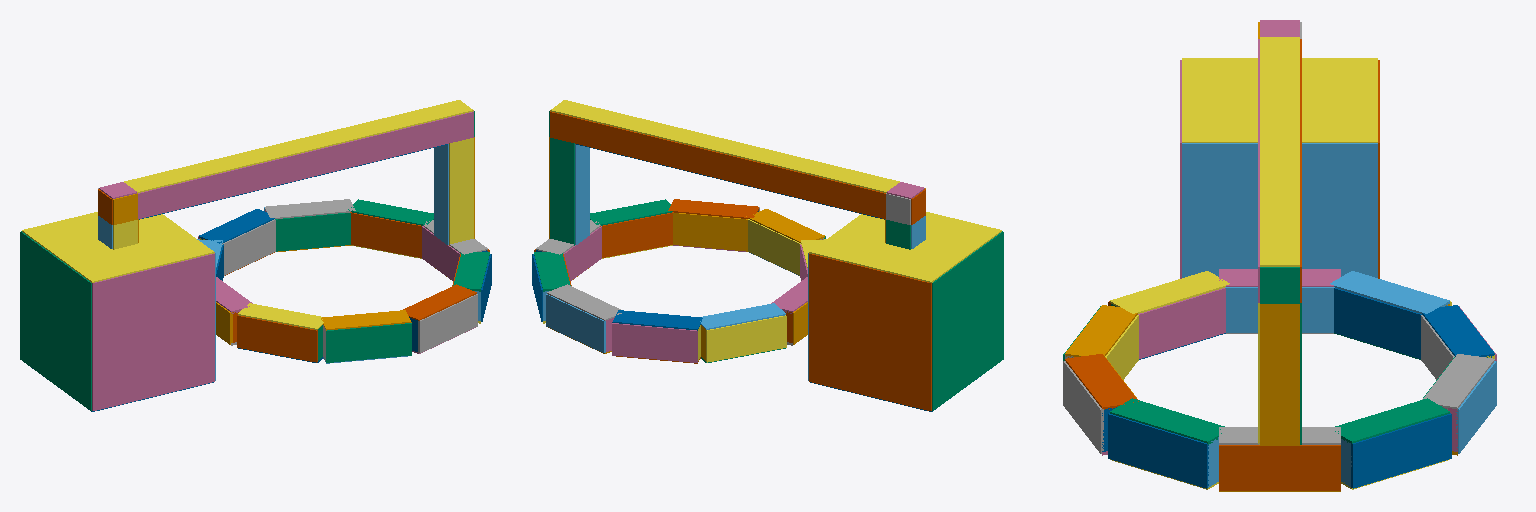
--- What the picture shows (computed from the rendered views, not written in the file) ---
3 views of the same robot in one strip: view 1: azimuth 30°, elevation 25°; view 2: azimuth 150°, elevation 25°; view 3: azimuth 270°, elevation 25° (orthographic).
Model robot with 100 links and 99 joints (2 continuous, 97 fixed), rooted at body, posed every joint at zero.
Visible links, largest first — view 1: body_sensor_0_right, body_sensor_0_stop, arm_sensor_0_right, body_sensor_0_top, arm_sensor_0_top, hand_part_7_sensor_0_left, hand_part_6_sensor_0_left, wrist_sensor_0_right, hand_part_2_sensor_0_right, hand_part_1_sensor_0_right, hand_part_8_sensor_0_left, hand_part_3_sensor_0_right (+13 smaller); view 2: body_sensor_0_left, body_sensor_0_stop, arm_sensor_0_left, body_sensor_0_top, arm_sensor_0_top, hand_part_3_sensor_0_left, hand_part_4_sensor_0_left, wrist_sensor_0_left, hand_part_8_sensor_0_right, hand_part_9_sensor_0_right, hand_part_2_sensor_0_left, hand_part_7_sensor_0_right (+12 smaller); view 3: body_sensor_0_start, body_sensor_0_top, arm_sensor_0_top, wrist_sensor_0_start, hand_part_0_sensor_0_start, hand_part_1_sensor_0_left, hand_part_9_sensor_0_left, hand_part_4_sensor_0_right, hand_part_6_sensor_0_right, hand_part_5_sensor_0_right, hand_part_4_sensor_0_top, hand_part_6_sensor_0_top (+16 smaller).
Boxes of the visible links, x1,y1,x2,y2 form: body_sensor_0_right: (92, 253, 214, 410); body_sensor_0_stop: (20, 231, 91, 410); arm_sensor_0_right: (138, 111, 473, 218); body_sensor_0_top: (22, 212, 214, 282); arm_sensor_0_top: (124, 100, 473, 192); hand_part_7_sensor_0_left: (326, 323, 411, 362); hand_part_6_sensor_0_left: (237, 315, 317, 362); wrist_sensor_0_right: (449, 138, 473, 245); hand_part_2_sensor_0_right: (275, 213, 350, 251); hand_part_1_sensor_0_right: (350, 212, 421, 257); hand_part_8_sensor_0_left: (418, 294, 477, 352); hand_part_3_sensor_0_right: (222, 219, 275, 275); body_sensor_0_left: (809, 253, 931, 410); body_sensor_0_stop: (932, 231, 1003, 410); arm_sensor_0_left: (550, 111, 885, 218); body_sensor_0_top: (809, 212, 1001, 282); arm_sensor_0_top: (550, 100, 899, 192); hand_part_3_sensor_0_left: (612, 323, 697, 362); hand_part_4_sensor_0_left: (706, 315, 786, 362); wrist_sensor_0_left: (550, 138, 574, 245); hand_part_8_sensor_0_right: (673, 213, 747, 251); hand_part_9_sensor_0_right: (600, 212, 673, 257); hand_part_2_sensor_0_left: (546, 294, 605, 352); hand_part_7_sensor_0_right: (748, 219, 801, 275); body_sensor_0_start: (1182, 143, 1377, 277); body_sensor_0_top: (1182, 58, 1377, 142); arm_sensor_0_top: (1260, 37, 1299, 266); wrist_sensor_0_start: (1260, 304, 1299, 445); hand_part_0_sensor_0_start: (1219, 445, 1340, 490); hand_part_1_sensor_0_left: (1351, 413, 1451, 488); hand_part_9_sensor_0_left: (1108, 413, 1208, 488); hand_part_4_sensor_0_right: (1334, 288, 1421, 358); hand_part_6_sensor_0_right: (1138, 288, 1225, 358); hand_part_5_sensor_0_right: (1225, 287, 1334, 332); hand_part_4_sensor_0_top: (1330, 271, 1449, 313); hand_part_6_sensor_0_top: (1110, 271, 1229, 313).
Bounding box of the posed robot: 3.37 × 2.21 × 1.42 m (x, y, z).
Geometry: primitives only (box / cylinder / sphere), no mesh files.

robot.urdf — robot:
<?xml version="1.0"?>
    <robot name="robot">


    <!-- body -->
    <link name="body">
        <inertial>
            <origin xyz="0 0 0" rpy="0 0 0"/>
            <mass value="100"/>
            <inertia ixx=".1" ixy=".1" ixz=".1" iyy=".1" iyz=".1" izz=".1"/>
        </inertial>
        <visual>
            <origin xyz="0 0 0" rpy="0 0 0"/>
            <geometry>
                <box size="1 1 1"/>
            </geometry>
        </visual>
        <collision>
            <origin xyz="0 0 0" rpy="0 0 0"/>
            <geometry>
                <box size="1 1 1"/>
            </geometry>
        </collision>
    </link>


    <!-- body_sensor_0_start -->
    <link name="body_sensor_0_start">
        <inertial>
            <origin xyz="0 0 0" rpy="0 0 0"/>
            <mass value="0"/>
            <inertia ixx=".1" ixy=".1" ixz=".1" iyy=".1" iyz=".1" izz=".1"/>
        </inertial>
        <visual>
            <origin xyz="0 0 0" rpy="0 0 0"/>
            <geometry>
                <box size="0.02 1 1"/>
            </geometry>
        </visual>
        <collision>
            <origin xyz="0 0 0" rpy="0 0 0"/>
            <geometry>
                <box size="0.02 1 1"/>
            </geometry>
        </collision>
    </link>
    <!-- Joint: body, body_sensor_0_start -->
    <joint name="body_body_sensor_0_start_joint" type="fixed">
        <parent link="body"/>
        <child link="body_sensor_0_start"/>
        <origin xyz="0.5 0 0"
                rpy="0 0 0"/>
        <axis xyz="0 0 1"/>
        
    </joint>


    <!-- body_sensor_0_stop -->
    <link name="body_sensor_0_stop">
        <inertial>
            <origin xyz="0 0 0" rpy="0 0 0"/>
            <mass value="0"/>
            <inertia ixx=".1" ixy=".1" ixz=".1" iyy=".1" iyz=".1" izz=".1"/>
        </inertial>
        <visual>
            <origin xyz="0 0 0" rpy="0 0 0"/>
            <geometry>
                <box size="0.02 1 1"/>
            </geometry>
        </visual>
        <collision>
            <origin xyz="0 0 0" rpy="0 0 0"/>
            <geometry>
                <box size="0.02 1 1"/>
            </geometry>
        </collision>
    </link>
    <!-- Joint: body, body_sensor_0_stop -->
    <joint name="body_body_sensor_0_stop_joint" type="fixed">
        <parent link="body"/>
        <child link="body_sensor_0_stop"/>
        <origin xyz="-0.5 0 0"
                rpy="0 0 0"/>
        <axis xyz="0 0 1"/>
        
    </joint>


    <!-- body_sensor_0_top -->
    <link name="body_sensor_0_top">
        <inertial>
            <origin xyz="0 0 0" rpy="0 0 0"/>
            <mass value="0"/>
            <inertia ixx=".1" ixy=".1" ixz=".1" iyy=".1" iyz=".1" izz=".1"/>
        </inertial>
        <visual>
            <origin xyz="0 0 0" rpy="0 0 0"/>
            <geometry>
                <box size="1.0 1 0.02"/>
            </geometry>
        </visual>
        <collision>
            <origin xyz="0 0 0" rpy="0 0 0"/>
            <geometry>
                <box size="1.0 1 0.02"/>
            </geometry>
        </collision>
    </link>
    <!-- Joint: body, body_sensor_0_top -->
    <joint name="body_body_sensor_0_top_joint" type="fixed">
        <parent link="body"/>
        <child link="body_sensor_0_top"/>
        <origin xyz="0 0 0.5"
                rpy="0 0 0"/>
        <axis xyz="0 0 1"/>
        
    </joint>


    <!-- body_sensor_0_bottom -->
    <link name="body_sensor_0_bottom">
        <inertial>
            <origin xyz="0 0 0" rpy="0 0 0"/>
            <mass value="0"/>
            <inertia ixx=".1" ixy=".1" ixz=".1" iyy=".1" iyz=".1" izz=".1"/>
        </inertial>
        <visual>
            <origin xyz="0 0 0" rpy="0 0 0"/>
            <geometry>
                <box size="1.0 1 0.02"/>
            </geometry>
        </visual>
        <collision>
            <origin xyz="0 0 0" rpy="0 0 0"/>
            <geometry>
                <box size="1.0 1 0.02"/>
            </geometry>
        </collision>
    </link>
    <!-- Joint: body, body_sensor_0_bottom -->
    <joint name="body_body_sensor_0_bottom_joint" type="fixed">
        <parent link="body"/>
        <child link="body_sensor_0_bottom"/>
        <origin xyz="0 0 -0.5"
                rpy="0 0 0"/>
        <axis xyz="0 0 1"/>
        
    </joint>


    <!-- body_sensor_0_left -->
    <link name="body_sensor_0_left">
        <inertial>
            <origin xyz="0 0 0" rpy="0 0 0"/>
            <mass value="0"/>
            <inertia ixx=".1" ixy=".1" ixz=".1" iyy=".1" iyz=".1" izz=".1"/>
        </inertial>
        <visual>
            <origin xyz="0 0 0" rpy="0 0 0"/>
            <geometry>
                <box size="1.0 0.02 1"/>
            </geometry>
        </visual>
        <collision>
            <origin xyz="0 0 0" rpy="0 0 0"/>
            <geometry>
                <box size="1.0 0.02 1"/>
            </geometry>
        </collision>
    </link>
    <!-- Joint: body, body_sensor_0_left -->
    <joint name="body_body_sensor_0_left_joint" type="fixed">
        <parent link="body"/>
        <child link="body_sensor_0_left"/>
        <origin xyz="0 0.5 0"
                rpy="0 0 0"/>
        <axis xyz="0 0 1"/>
        
    </joint>


    <!-- body_sensor_0_right -->
    <link name="body_sensor_0_right">
        <inertial>
            <origin xyz="0 0 0" rpy="0 0 0"/>
            <mass value="0"/>
            <inertia ixx=".1" ixy=".1" ixz=".1" iyy=".1" iyz=".1" izz=".1"/>
        </inertial>
        <visual>
            <origin xyz="0 0 0" rpy="0 0 0"/>
            <geometry>
                <box size="1.0 0.02 1"/>
            </geometry>
        </visual>
        <collision>
            <origin xyz="0 0 0" rpy="0 0 0"/>
            <geometry>
                <box size="1.0 0.02 1"/>
            </geometry>
        </collision>
    </link>
    <!-- Joint: body, body_sensor_0_right -->
    <joint name="body_body_sensor_0_right_joint" type="fixed">
        <parent link="body"/>
        <child link="body_sensor_0_right"/>
        <origin xyz="0 -0.5 0"
                rpy="0 0 0"/>
        <axis xyz="0 0 1"/>
        
    </joint>


    <!-- joint_1 -->
    <link name="joint_1">
        <inertial>
            <origin xyz="0 0 0" rpy="0 0 0"/>
            <mass value="2"/>
            <inertia ixx=".1" ixy=".1" ixz=".1" iyy=".1" iyz=".1" izz=".1"/>
        </inertial>
        <visual>
            <origin xyz="0 0 0" rpy="0 0 0"/>
            <geometry>
                <box size="0.2 0.2 0.2"/>
            </geometry>
        </visual>
        <collision>
            <origin xyz="0 0 0" rpy="0 0 0"/>
            <geometry>
                <box size="0.2 0.2 0.2"/>
            </geometry>
        </collision>
    </link>


    <!-- joint_1_sensor_0_start -->
    <link name="joint_1_sensor_0_start">
        <inertial>
            <origin xyz="0 0 0" rpy="0 0 0"/>
            <mass value="0"/>
            <inertia ixx=".1" ixy=".1" ixz=".1" iyy=".1" iyz=".1" izz=".1"/>
        </inertial>
        <visual>
            <origin xyz="0 0 0" rpy="0 0 0"/>
            <geometry>
                <box size="0.02 0.2 0.2"/>
            </geometry>
        </visual>
        <collision>
            <origin xyz="0 0 0" rpy="0 0 0"/>
            <geometry>
                <box size="0.02 0.2 0.2"/>
            </geometry>
        </collision>
    </link>
    <!-- Joint: joint_1, joint_1_sensor_0_start -->
    <joint name="joint_1_joint_1_sensor_0_start_joint" type="fixed">
        <parent link="joint_1"/>
        <child link="joint_1_sensor_0_start"/>
        <origin xyz="0.1 0 0"
                rpy="0 0 0"/>
        <axis xyz="0 0 1"/>
        
    </joint>


    <!-- joint_1_sensor_0_stop -->
    <link name="joint_1_sensor_0_stop">
        <inertial>
            <origin xyz="0 0 0" rpy="0 0 0"/>
            <mass value="0"/>
            <inertia ixx=".1" ixy=".1" ixz=".1" iyy=".1" iyz=".1" izz=".1"/>
        </inertial>
        <visual>
            <origin xyz="0 0 0" rpy="0 0 0"/>
            <geometry>
                <box size="0.02 0.2 0.2"/>
            </geometry>
        </visual>
        <collision>
            <origin xyz="0 0 0" rpy="0 0 0"/>
            <geometry>
                <box size="0.02 0.2 0.2"/>
            </geometry>
        </collision>
    </link>
    <!-- Joint: joint_1, joint_1_sensor_0_stop -->
    <joint name="joint_1_joint_1_sensor_0_stop_joint" type="fixed">
        <parent link="joint_1"/>
        <child link="joint_1_sensor_0_stop"/>
        <origin xyz="-0.1 0 0"
                rpy="0 0 0"/>
        <axis xyz="0 0 1"/>
        
    </joint>


    <!-- joint_1_sensor_0_left -->
    <link name="joint_1_sensor_0_left">
        <inertial>
            <origin xyz="0 0 0" rpy="0 0 0"/>
            <mass value="0"/>
            <inertia ixx=".1" ixy=".1" ixz=".1" iyy=".1" iyz=".1" izz=".1"/>
        </inertial>
        <visual>
            <origin xyz="0 0 0" rpy="0 0 0"/>
            <geometry>
                <box size="0.2 0.02 0.2"/>
            </geometry>
        </visual>
        <collision>
            <origin xyz="0 0 0" rpy="0 0 0"/>
            <geometry>
                <box size="0.2 0.02 0.2"/>
            </geometry>
        </collision>
    </link>
    <!-- Joint: joint_1, joint_1_sensor_0_left -->
    <joint name="joint_1_joint_1_sensor_0_left_joint" type="fixed">
        <parent link="joint_1"/>
        <child link="joint_1_sensor_0_left"/>
        <origin xyz="0 0.1 0"
                rpy="0 0 0"/>
        <axis xyz="0 0 1"/>
        
    </joint>


    <!-- joint_1_sensor_0_right -->
    <link name="joint_1_sensor_0_right">
        <inertial>
            <origin xyz="0 0 0" rpy="0 0 0"/>
            <mass value="0"/>
            <inertia ixx=".1" ixy=".1" ixz=".1" iyy=".1" iyz=".1" izz=".1"/>
        </inertial>
        <visual>
            <origin xyz="0 0 0" rpy="0 0 0"/>
            <geometry>
                <box size="0.2 0.02 0.2"/>
            </geometry>
        </visual>
        <collision>
            <origin xyz="0 0 0" rpy="0 0 0"/>
            <geometry>
                <box size="0.2 0.02 0.2"/>
            </geometry>
        </collision>
    </link>
    <!-- Joint: joint_1, joint_1_sensor_0_right -->
    <joint name="joint_1_joint_1_sensor_0_right_joint" type="fixed">
        <parent link="joint_1"/>
        <child link="joint_1_sensor_0_right"/>
        <origin xyz="0 -0.1 0"
                rpy="0 0 0"/>
        <axis xyz="0 0 1"/>
        
    </joint>
    <!-- Joint: body, joint_1 -->
    <joint name="body_joint_1_joint" type="continuous">
        <parent link="body"/>
        <child link="joint_1"/>
        <origin xyz="0 0 0.6"
                rpy="0 0 0"/>
        <axis xyz="0 0 1"/>
        <limit lower="0" upper="0" effort="0" velocity="0"/>
    </joint>


    <!-- joint_2 -->
    <link name="joint_2">
        <inertial>
            <origin xyz="0 0 0" rpy="0 0 0"/>
            <mass value="2"/>
            <inertia ixx=".1" ixy=".1" ixz=".1" iyy=".1" iyz=".1" izz=".1"/>
        </inertial>
        <visual>
            <origin xyz="0 0 0" rpy="0 0 0"/>
            <geometry>
                <box size="0.2 0.2 0.2"/>
            </geometry>
        </visual>
        <collision>
            <origin xyz="0 0 0" rpy="0 0 0"/>
            <geometry>
                <box size="0.2 0.2 0.2"/>
            </geometry>
        </collision>
    </link>


    <!-- joint_2_sensor_0_stop -->
    <link name="joint_2_sensor_0_stop">
        <inertial>
            <origin xyz="0 0 0" rpy="0 0 0"/>
            <mass value="0"/>
            <inertia ixx=".1" ixy=".1" ixz=".1" iyy=".1" iyz=".1" izz=".1"/>
        </inertial>
        <visual>
            <origin xyz="0 0 0" rpy="0 0 0"/>
            <geometry>
                <box size="0.02 0.2 0.2"/>
            </geometry>
        </visual>
        <collision>
            <origin xyz="0 0 0" rpy="0 0 0"/>
            <geometry>
                <box size="0.02 0.2 0.2"/>
            </geometry>
        </collision>
    </link>
    <!-- Joint: joint_2, joint_2_sensor_0_stop -->
    <joint name="joint_2_joint_2_sensor_0_stop_joint" type="fixed">
        <parent link="joint_2"/>
        <child link="joint_2_sensor_0_stop"/>
        <origin xyz="-0.1 0 0"
                rpy="0 0 0"/>
        <axis xyz="0 1 0"/>
        
    </joint>


    <!-- joint_2_sensor_0_top -->
    <link name="joint_2_sensor_0_top">
        <inertial>
            <origin xyz="0 0 0" rpy="0 0 0"/>
            <mass value="0"/>
            <inertia ixx=".1" ixy=".1" ixz=".1" iyy=".1" iyz=".1" izz=".1"/>
        </inertial>
        <visual>
            <origin xyz="0 0 0" rpy="0 0 0"/>
            <geometry>
                <box size="0.2 0.2 0.02"/>
            </geometry>
        </visual>
        <collision>
            <origin xyz="0 0 0" rpy="0 0 0"/>
            <geometry>
                <box size="0.2 0.2 0.02"/>
            </geometry>
        </collision>
    </link>
    <!-- Joint: joint_2, joint_2_sensor_0_top -->
    <joint name="joint_2_joint_2_sensor_0_top_joint" type="fixed">
        <parent link="joint_2"/>
        <child link="joint_2_sensor_0_top"/>
        <origin xyz="0 0 0.1"
                rpy="0 0 0"/>
        <axis xyz="0 1 0"/>
        
    </joint>


    <!-- joint_2_sensor_0_left -->
    <link name="joint_2_sensor_0_left">
        <inertial>
            <origin xyz="0 0 0" rpy="0 0 0"/>
            <mass value="0"/>
            <inertia ixx=".1" ixy=".1" ixz=".1" iyy=".1" iyz=".1" izz=".1"/>
        </inertial>
        <visual>
            <origin xyz="0 0 0" rpy="0 0 0"/>
            <geometry>
                <box size="0.2 0.02 0.2"/>
            </geometry>
        </visual>
        <collision>
            <origin xyz="0 0 0" rpy="0 0 0"/>
            <geometry>
                <box size="0.2 0.02 0.2"/>
            </geometry>
        </collision>
    </link>
    <!-- Joint: joint_2, joint_2_sensor_0_left -->
    <joint name="joint_2_joint_2_sensor_0_left_joint" type="fixed">
        <parent link="joint_2"/>
        <child link="joint_2_sensor_0_left"/>
        <origin xyz="0 0.1 0"
                rpy="0 0 0"/>
        <axis xyz="0 1 0"/>
        
    </joint>


    <!-- joint_2_sensor_0_right -->
    <link name="joint_2_sensor_0_right">
        <inertial>
            <origin xyz="0 0 0" rpy="0 0 0"/>
            <mass value="0"/>
            <inertia ixx=".1" ixy=".1" ixz=".1" iyy=".1" iyz=".1" izz=".1"/>
        </inertial>
        <visual>
            <origin xyz="0 0 0" rpy="0 0 0"/>
            <geometry>
                <box size="0.2 0.02 0.2"/>
            </geometry>
        </visual>
        <collision>
            <origin xyz="0 0 0" rpy="0 0 0"/>
            <geometry>
                <box size="0.2 0.02 0.2"/>
            </geometry>
        </collision>
    </link>
    <!-- Joint: joint_2, joint_2_sensor_0_right -->
    <joint name="joint_2_joint_2_sensor_0_right_joint" type="fixed">
        <parent link="joint_2"/>
        <child link="joint_2_sensor_0_right"/>
        <origin xyz="0 -0.1 0"
                rpy="0 0 0"/>
        <axis xyz="0 1 0"/>
        
    </joint>
    <!-- Joint: joint_1, joint_2 -->
    <joint name="joint_1_joint_2_joint" type="continuous">
        <parent link="joint_1"/>
        <child link="joint_2"/>
        <origin xyz="0 0 0.2"
                rpy="0 0 0"/>
        <axis xyz="0 1 0"/>
        <limit lower="0" upper="0" effort="0" velocity="0"/>
    </joint>


    <!-- arm -->
    <link name="arm">
        <inertial>
            <origin xyz="0 0 0" rpy="0 0 0"/>
            <mass value="2"/>
            <inertia ixx=".1" ixy=".1" ixz=".1" iyy=".1" iyz=".1" izz=".1"/>
        </inertial>
        <visual>
            <origin xyz="0 0 0" rpy="0 0 0"/>
            <geometry>
                <box size="2.75 0.2 0.2"/>
            </geometry>
        </visual>
        <collision>
            <origin xyz="0 0 0" rpy="0 0 0"/>
            <geometry>
                <box size="2.75 0.2 0.2"/>
            </geometry>
        </collision>
    </link>


    <!-- arm_sensor_0_start -->
    <link name="arm_sensor_0_start">
        <inertial>
            <origin xyz="0 0 0" rpy="0 0 0"/>
            <mass value="0"/>
            <inertia ixx=".1" ixy=".1" ixz=".1" iyy=".1" iyz=".1" izz=".1"/>
        </inertial>
        <visual>
            <origin xyz="0 0 0" rpy="0 0 0"/>
            <geometry>
                <box size="0.02 0.2 0.2"/>
            </geometry>
        </visual>
        <collision>
            <origin xyz="0 0 0" rpy="0 0 0"/>
            <geometry>
                <box size="0.02 0.2 0.2"/>
            </geometry>
        </collision>
    </link>
    <!-- Joint: arm, arm_sensor_0_start -->
    <joint name="arm_arm_sensor_0_start_joint" type="fixed">
        <parent link="arm"/>
        <child link="arm_sensor_0_start"/>
        <origin xyz="1.375 0 0"
                rpy="0 0 0"/>
        <axis xyz="0 1 0"/>
        
    </joint>


    <!-- arm_sensor_0_top -->
    <link name="arm_sensor_0_top">
        <inertial>
            <origin xyz="0 0 0" rpy="0 0 0"/>
            <mass value="0"/>
            <inertia ixx=".1" ixy=".1" ixz=".1" iyy=".1" iyz=".1" izz=".1"/>
        </inertial>
        <visual>
            <origin xyz="0 0 0" rpy="0 0 0"/>
            <geometry>
                <box size="2.75 0.2 0.02"/>
            </geometry>
        </visual>
        <collision>
            <origin xyz="0 0 0" rpy="0 0 0"/>
            <geometry>
                <box size="2.75 0.2 0.02"/>
            </geometry>
        </collision>
    </link>
    <!-- Joint: arm, arm_sensor_0_top -->
    <joint name="arm_arm_sensor_0_top_joint" type="fixed">
        <parent link="arm"/>
        <child link="arm_sensor_0_top"/>
        <origin xyz="0 0 0.1"
                rpy="0 0 0"/>
        <axis xyz="0 1 0"/>
        
    </joint>


    <!-- arm_sensor_0_bottom -->
    <link name="arm_sensor_0_bottom">
        <inertial>
            <origin xyz="0 0 0" rpy="0 0 0"/>
            <mass value="0"/>
            <inertia ixx=".1" ixy=".1" ixz=".1" iyy=".1" iyz=".1" izz=".1"/>
        </inertial>
        <visual>
            <origin xyz="0 0 0" rpy="0 0 0"/>
            <geometry>
                <box size="2.75 0.2 0.02"/>
            </geometry>
        </visual>
        <collision>
            <origin xyz="0 0 0" rpy="0 0 0"/>
            <geometry>
                <box size="2.75 0.2 0.02"/>
            </geometry>
        </collision>
    </link>
    <!-- Joint: arm, arm_sensor_0_bottom -->
    <joint name="arm_arm_sensor_0_bottom_joint" type="fixed">
        <parent link="arm"/>
        <child link="arm_sensor_0_bottom"/>
        <origin xyz="0 0 -0.1"
                rpy="0 0 0"/>
        <axis xyz="0 1 0"/>
        
    </joint>


    <!-- arm_sensor_0_left -->
    <link name="arm_sensor_0_left">
        <inertial>
            <origin xyz="0 0 0" rpy="0 0 0"/>
            <mass value="0"/>
            <inertia ixx=".1" ixy=".1" ixz=".1" iyy=".1" iyz=".1" izz=".1"/>
        </inertial>
        <visual>
            <origin xyz="0 0 0" rpy="0 0 0"/>
            <geometry>
                <box size="2.75 0.02 0.2"/>
            </geometry>
        </visual>
        <collision>
            <origin xyz="0 0 0" rpy="0 0 0"/>
            <geometry>
                <box size="2.75 0.02 0.2"/>
            </geometry>
        </collision>
    </link>
    <!-- Joint: arm, arm_sensor_0_left -->
    <joint name="arm_arm_sensor_0_left_joint" type="fixed">
        <parent link="arm"/>
        <child link="arm_sensor_0_left"/>
        <origin xyz="0 0.1 0"
                rpy="0 0 0"/>
        <axis xyz="0 1 0"/>
        
    </joint>


    <!-- arm_sensor_0_right -->
    <link name="arm_sensor_0_right">
        <inertial>
            <origin xyz="0 0 0" rpy="0 0 0"/>
            <mass value="0"/>
            <inertia ixx=".1" ixy=".1" ixz=".1" iyy=".1" iyz=".1" izz=".1"/>
        </inertial>
        <visual>
            <origin xyz="0 0 0" rpy="0 0 0"/>
            <geometry>
                <box size="2.75 0.02 0.2"/>
            </geometry>
        </visual>
        <collision>
            <origin xyz="0 0 0" rpy="0 0 0"/>
            <geometry>
                <box size="2.75 0.02 0.2"/>
            </geometry>
        </collision>
    </link>
    <!-- Joint: arm, arm_sensor_0_right -->
    <joint name="arm_arm_sensor_0_right_joint" type="fixed">
        <parent link="arm"/>
        <child link="arm_sensor_0_right"/>
        <origin xyz="0 -0.1 0"
                rpy="0 0 0"/>
        <axis xyz="0 1 0"/>
        
    </joint>
    <!-- Joint: joint_2, arm -->
    <joint name="joint_2_arm_joint" type="fixed">
        <parent link="joint_2"/>
        <child link="arm"/>
        <origin xyz="1.475 0 0"
                rpy="0 0 0"/>
        <axis xyz="0 1 0"/>
        
    </joint>


    <!-- wrist -->
    <link name="wrist">
        <inertial>
            <origin xyz="0 0 0" rpy="0 0 0"/>
            <mass value="2"/>
            <inertia ixx=".1" ixy=".1" ixz=".1" iyy=".1" iyz=".1" izz=".1"/>
        </inertial>
        <visual>
            <origin xyz="0 0 0" rpy="0 0 0"/>
            <geometry>
                <box size="0.2 0.2 0.8"/>
            </geometry>
        </visual>
        <collision>
            <origin xyz="0 0 0" rpy="0 0 0"/>
            <geometry>
                <box size="0.2 0.2 0.8"/>
            </geometry>
        </collision>
    </link>


    <!-- wrist_sensor_0_start -->
    <link name="wrist_sensor_0_start">
        <inertial>
            <origin xyz="0 0 0" rpy="0 0 0"/>
            <mass value="0"/>
            <inertia ixx=".1" ixy=".1" ixz=".1" iyy=".1" iyz=".1" izz=".1"/>
        </inertial>
        <visual>
            <origin xyz="0 0 0" rpy="0 0 0"/>
            <geometry>
                <box size="0.02 0.2 0.8"/>
            </geometry>
        </visual>
        <collision>
            <origin xyz="0 0 0" rpy="0 0 0"/>
            <geometry>
                <box size="0.02 0.2 0.8"/>
            </geometry>
        </collision>
    </link>
    <!-- Joint: wrist, wrist_sensor_0_start -->
    <joint name="wrist_wrist_sensor_0_start_joint" type="fixed">
        <parent link="wrist"/>
        <child link="wrist_sensor_0_start"/>
        <origin xyz="0.1 0 0"
                rpy="0 0 0"/>
        <axis xyz="0 1 0"/>
        
    </joint>


    <!-- wrist_sensor_0_stop -->
    <link name="wrist_sensor_0_stop">
        <inertial>
            <origin xyz="0 0 0" rpy="0 0 0"/>
            <mass value="0"/>
            <inertia ixx=".1" ixy=".1" ixz=".1" iyy=".1" iyz=".1" izz=".1"/>
        </inertial>
        <visual>
            <origin xyz="0 0 0" rpy="0 0 0"/>
            <geometry>
                <box size="0.02 0.2 0.8"/>
            </geometry>
        </visual>
        <collision>
            <origin xyz="0 0 0" rpy="0 0 0"/>
            <geometry>
                <box size="0.02 0.2 0.8"/>
            </geometry>
        </collision>
    </link>
    <!-- Joint: wrist, wrist_sensor_0_stop -->
    <joint name="wrist_wrist_sensor_0_stop_joint" type="fixed">
        <parent link="wrist"/>
        <child link="wrist_sensor_0_stop"/>
        <origin xyz="-0.1 0 0"
                rpy="0 0 0"/>
        <axis xyz="0 1 0"/>
        
    </joint>


    <!-- wrist_sensor_0_left -->
    <link name="wrist_sensor_0_left">
        <inertial>
            <origin xyz="0 0 0" rpy="0 0 0"/>
            <mass value="0"/>
            <inertia ixx=".1" ixy=".1" ixz=".1" iyy=".1" iyz=".1" izz=".1"/>
        </inertial>
        <visual>
            <origin xyz="0 0 0" rpy="0 0 0"/>
            <geometry>
                <box size="0.2 0.02 0.8"/>
            </geometry>
        </visual>
        <collision>
            <origin xyz="0 0 0" rpy="0 0 0"/>
            <geometry>
                <box size="0.2 0.02 0.8"/>
            </geometry>
        </collision>
    </link>
    <!-- Joint: wrist, wrist_sensor_0_left -->
    <joint name="wrist_wrist_sensor_0_left_joint" type="fixed">
        <parent link="wrist"/>
        <child link="wrist_sensor_0_left"/>
        <origin xyz="0 0.1 0"
                rpy="0 0 0"/>
        <axis xyz="0 1 0"/>
        
    </joint>


    <!-- wrist_sensor_0_right -->
    <link name="wrist_sensor_0_right">
        <inertial>
            <origin xyz="0 0 0" rpy="0 0 0"/>
            <mass value="0"/>
            <inertia ixx=".1" ixy=".1" ixz=".1" iyy=".1" iyz=".1" izz=".1"/>
        </inertial>
        <visual>
            <origin xyz="0 0 0" rpy="0 0 0"/>
            <geometry>
                <box size="0.2 0.02 0.8"/>
            </geometry>
        </visual>
        <collision>
            <origin xyz="0 0 0" rpy="0 0 0"/>
            <geometry>
                <box size="0.2 0.02 0.8"/>
            </geometry>
        </collision>
    </link>
    <!-- Joint: wrist, wrist_sensor_0_right -->
    <joint name="wrist_wrist_sensor_0_right_joint" type="fixed">
        <parent link="wrist"/>
        <child link="wrist_sensor_0_right"/>
        <origin xyz="0 -0.1 0"
                rpy="0 0 0"/>
        <axis xyz="0 1 0"/>
        
    </joint>
    <!-- Joint: arm, wrist -->
    <joint name="arm_wrist_joint" type="fixed">
        <parent link="arm"/>
        <child link="wrist"/>
        <origin xyz="1.275 0 -0.5"
                rpy="0 0 0"/>
        <axis xyz="0 1 0"/>
        
    </joint>


    <!-- hand_part_0 -->
    <link name="hand_part_0">
        <inertial>
            <origin xyz="0 0 0" rpy="0 0 0"/>
            <mass value="2"/>
            <inertia ixx=".1" ixy=".1" ixz=".1" iyy=".1" iyz=".1" izz=".1"/>
        </inertial>
        <visual>
            <origin xyz="0 0 0" rpy="0 0 0"/>
            <geometry>
                <box size="0.2 0.6180339887498948 0.25"/>
            </geometry>
        </visual>
        <collision>
            <origin xyz="0 0 0" rpy="0 0 0"/>
            <geometry>
                <box size="0.2 0.6180339887498948 0.25"/>
            </geometry>
        </collision>
    </link>


    <!-- hand_part_0_sensor_0_start -->
    <link name="hand_part_0_sensor_0_start">
        <inertial>
            <origin xyz="0 0 0" rpy="0 0 0"/>
            <mass value="0"/>
            <inertia ixx=".1" ixy=".1" ixz=".1" iyy=".1" iyz=".1" izz=".1"/>
        </inertial>
        <visual>
            <origin xyz="0 0 0" rpy="0 0 0"/>
            <geometry>
                <box size="0.02 0.6180339887498948 0.25"/>
            </geometry>
        </visual>
        <collision>
            <origin xyz="0 0 0" rpy="0 0 0"/>
            <geometry>
                <box size="0.02 0.6180339887498948 0.25"/>
            </geometry>
        </collision>
    </link>
    <!-- Joint: hand_part_0, hand_part_0_sensor_0_start -->
    <joint name="hand_part_0_hand_part_0_sensor_0_start_joint" type="fixed">
        <parent link="hand_part_0"/>
        <child link="hand_part_0_sensor_0_start"/>
        <origin xyz="0.1 0 0"
                rpy="0 0 0"/>
        <axis xyz="0 1 0"/>
        
    </joint>


    <!-- hand_part_0_sensor_0_stop -->
    <link name="hand_part_0_sensor_0_stop">
        <inertial>
            <origin xyz="0 0 0" rpy="0 0 0"/>
            <mass value="0"/>
            <inertia ixx=".1" ixy=".1" ixz=".1" iyy=".1" iyz=".1" izz=".1"/>
        </inertial>
        <visual>
            <origin xyz="0 0 0" rpy="0 0 0"/>
            <geometry>
                <box size="0.02 0.6180339887498948 0.25"/>
            </geometry>
        </visual>
        <collision>
            <origin xyz="0 0 0" rpy="0 0 0"/>
            <geometry>
                <box size="0.02 0.6180339887498948 0.25"/>
            </geometry>
        </collision>
    </link>
    <!-- Joint: hand_part_0, hand_part_0_sensor_0_stop -->
    <joint name="hand_part_0_hand_part_0_sensor_0_stop_joint" type="fixed">
        <parent link="hand_part_0"/>
        <child link="hand_part_0_sensor_0_stop"/>
        <origin xyz="-0.1 0 0"
                rpy="0 0 0"/>
        <axis xyz="0 1 0"/>
        
    </joint>


    <!-- hand_part_0_sensor_0_top -->
    <link name="hand_part_0_sensor_0_top">
        <inertial>
            <origin xyz="0 0 0" rpy="0 0 0"/>
            <mass value="0"/>
            <inertia ixx=".1" ixy=".1" ixz=".1" iyy=".1" iyz=".1" izz=".1"/>
        </inertial>
        <visual>
            <origin xyz="0 0 0" rpy="0 0 0"/>
            <geometry>
                <box size="0.2 0.6180339887498948 0.02"/>
            </geometry>
        </visual>
        <collision>
            <origin xyz="0 0 0" rpy="0 0 0"/>
            <geometry>
                <box size="0.2 0.6180339887498948 0.02"/>
            </geometry>
        </collision>
    </link>
    <!-- Joint: hand_part_0, hand_part_0_sensor_0_top -->
    <joint name="hand_part_0_hand_part_0_sensor_0_top_joint" type="fixed">
        <parent link="hand_part_0"/>
        <child link="hand_part_0_sensor_0_top"/>
        <origin xyz="0 0 0.125"
                rpy="0 0 0"/>
        <axis xyz="0 1 0"/>
        
    </joint>


    <!-- hand_part_0_sensor_0_bottom -->
    <link name="hand_part_0_sensor_0_bottom">
        <inertial>
            <origin xyz="0 0 0" rpy="0 0 0"/>
            <mass value="0"/>
            <inertia ixx=".1" ixy=".1" ixz=".1" iyy=".1" iyz=".1" izz=".1"/>
        </inertial>
        <visual>
            <origin xyz="0 0 0" rpy="0 0 0"/>
            <geometry>
                <box size="0.2 0.6180339887498948 0.02"/>
            </geometry>
        </visual>
        <collision>
            <origin xyz="0 0 0" rpy="0 0 0"/>
            <geometry>
                <box size="0.2 0.6180339887498948 0.02"/>
            </geometry>
        </collision>
    </link>
    <!-- Joint: hand_part_0, hand_part_0_sensor_0_bottom -->
    <joint name="hand_part_0_hand_part_0_sensor_0_bottom_joint" type="fixed">
        <parent link="hand_part_0"/>
        <child link="hand_part_0_sensor_0_bottom"/>
        <origin xyz="0 0 -0.125"
                rpy="0 0 0"/>
        <axis xyz="0 1 0"/>
        
    </joint>
    <!-- Joint: wrist, hand_part_0 -->
    <joint name="wrist_hand_part_0_joint" type="fixed">
        <parent link="wrist"/>
        <child link="hand_part_0"/>
        <origin xyz="0 0 -0.525"
                rpy="0 0 0"/>
        <axis xyz="0 1 0"/>
        
    </joint>


    <!-- hand_part_1 -->
    <link name="hand_part_1">
        <inertial>
            <origin xyz="0 0 0" rpy="0 0 0"/>
            <mass value="2"/>
            <inertia ixx=".1" ixy=".1" ixz=".1" iyy=".1" iyz=".1" izz=".1"/>
        </inertial>
        <visual>
            <origin xyz="0 0 0" rpy="0 0 0"/>
            <geometry>
                <box size="0.6180339887498948 0.2 0.25"/>
            </geometry>
        </visual>
        <collision>
            <origin xyz="0 0 0" rpy="0 0 0"/>
            <geometry>
                <box size="0.6180339887498948 0.2 0.25"/>
            </geometry>
        </collision>
    </link>


    <!-- hand_part_1_sensor_0_top -->
    <link name="hand_part_1_sensor_0_top">
        <inertial>
            <origin xyz="0 0 0" rpy="0 0 0"/>
            <mass value="0"/>
            <inertia ixx=".1" ixy=".1" ixz=".1" iyy=".1" iyz=".1" izz=".1"/>
        </inertial>
        <visual>
            <origin xyz="0 0 0" rpy="0 0 0"/>
            <geometry>
                <box size="0.6180339887498948 0.2 0.02"/>
            </geometry>
        </visual>
        <collision>
            <origin xyz="0 0 0" rpy="0 0 0"/>
            <geometry>
                <box size="0.6180339887498948 0.2 0.02"/>
            </geometry>
        </collision>
    </link>
    <!-- Joint: hand_part_1, hand_part_1_sensor_0_top -->
    <joint name="hand_part_1_hand_part_1_sensor_0_top_joint" type="fixed">
        <parent link="hand_part_1"/>
        <child link="hand_part_1_sensor_0_top"/>
        <origin xyz="0 0 0.125"
                rpy="0 0 0"/>
        <axis xyz="0 1 0"/>
        
    </joint>


    <!-- hand_part_1_sensor_0_bottom -->
    <link name="hand_part_1_sensor_0_bottom">
        <inertial>
            <origin xyz="0 0 0" rpy="0 0 0"/>
            <mass value="0"/>
            <inertia ixx=".1" ixy=".1" ixz=".1" iyy=".1" iyz=".1" izz=".1"/>
        </inertial>
        <visual>
            <origin xyz="0 0 0" rpy="0 0 0"/>
            <geometry>
                <box size="0.6180339887498948 0.2 0.02"/>
            </geometry>
        </visual>
        <collision>
            <origin xyz="0 0 0" rpy="0 0 0"/>
            <geometry>
                <box size="0.6180339887498948 0.2 0.02"/>
            </geometry>
        </collision>
    </link>
    <!-- Joint: hand_part_1, hand_part_1_sensor_0_bottom -->
    <joint name="hand_part_1_hand_part_1_sensor_0_bottom_joint" type="fixed">
        <parent link="hand_part_1"/>
        <child link="hand_part_1_sensor_0_bottom"/>
        <origin xyz="0 0 -0.125"
                rpy="0 0 0"/>
        <axis xyz="0 1 0"/>
        
    </joint>


    <!-- hand_part_1_sensor_0_left -->
    <link name="hand_part_1_sensor_0_left">
        <inertial>
            <origin xyz="0 0 0" rpy="0 0 0"/>
            <mass value="0"/>
            <inertia ixx=".1" ixy=".1" ixz=".1" iyy=".1" iyz=".1" izz=".1"/>
        </inertial>
        <visual>
            <origin xyz="0 0 0" rpy="0 0 0"/>
            <geometry>
                <box size="0.6180339887498948 0.02 0.25"/>
            </geometry>
        </visual>
        <collision>
            <origin xyz="0 0 0" rpy="0 0 0"/>
            <geometry>
                <box size="0.6180339887498948 0.02 0.25"/>
            </geometry>
        </collision>
    </link>
    <!-- Joint: hand_part_1, hand_part_1_sensor_0_left -->
    <joint name="hand_part_1_hand_part_1_sensor_0_left_joint" type="fixed">
        <parent link="hand_part_1"/>
        <child link="hand_part_1_sensor_0_left"/>
        <origin xyz="0 0.1 0"
                rpy="0 0 0"/>
        <axis xyz="0 1 0"/>
        
    </joint>


    <!-- hand_part_1_sensor_0_right -->
    <link name="hand_part_1_sensor_0_right">
        <inertial>
            <origin xyz="0 0 0" rpy="0 0 0"/>
            <mass value="0"/>
            <inertia ixx=".1" ixy=".1" ixz=".1" iyy=".1" iyz=".1" izz=".1"/>
        </inertial>
        <visual>
            <origin xyz="0 0 0" rpy="0 0 0"/>
            <geometry>
                <box size="0.6180339887498948 0.02 0.25"/>
            </geometry>
        </visual>
        <collision>
            <origin xyz="0 0 0" rpy="0 0 0"/>
            <geometry>
                <box size="0.6180339887498948 0.02 0.25"/>
            </geometry>
        </collision>
    </link>
    <!-- Joint: hand_part_1, hand_part_1_sensor_0_right -->
    <joint name="hand_part_1_hand_part_1_sensor_0_right_joint" type="fixed">
        <parent link="hand_part_1"/>
        <child link="hand_part_1_sensor_0_right"/>
        <origin xyz="0 -0.1 0"
                rpy="0 0 0"/>
        <axis xyz="0 1 0"/>
        
    </joint>
    <!-- Joint: hand_part_0, hand_part_1 -->
    <joint name="hand_part_0_hand_part_1_joint" type="fixed">
        <parent link="hand_part_0"/>
        <child link="hand_part_1"/>
        <origin xyz="-0.1816356320013402 0.5590169943749475 0"
                rpy="0 0 -0.9424777960769379"/>
        <axis xyz="0 1 0"/>
        
    </joint>


    <!-- hand_part_2 -->
    <link name="hand_part_2">
        <inertial>
            <origin xyz="0 0 0" rpy="0 0 0"/>
            <mass value="2"/>
            <inertia ixx=".1" ixy=".1" ixz=".1" iyy=".1" iyz=".1" izz=".1"/>
        </inertial>
        <visual>
            <origin xyz="0 0 0" rpy="0 0 0"/>
            <geometry>
                <box size="0.6180339887498948 0.2 0.25"/>
            </geometry>
        </visual>
        <collision>
            <origin xyz="0 0 0" rpy="0 0 0"/>
            <geometry>
                <box size="0.6180339887498948 0.2 0.25"/>
            </geometry>
        </collision>
    </link>


    <!-- hand_part_2_sensor_0_top -->
    <link name="hand_part_2_sensor_0_top">
        <inertial>
            <origin xyz="0 0 0" rpy="0 0 0"/>
            <mass value="0"/>
            <inertia ixx=".1" ixy=".1" ixz=".1" iyy=".1" iyz=".1" izz=".1"/>
        </inertial>
        <visual>
            <origin xyz="0 0 0" rpy="0 0 0"/>
            <geometry>
                <box size="0.6180339887498948 0.2 0.02"/>
            </geometry>
        </visual>
        <collision>
            <origin xyz="0 0 0" rpy="0 0 0"/>
            <geometry>
                <box size="0.6180339887498948 0.2 0.02"/>
            </geometry>
        </collision>
    </link>
    <!-- Joint: hand_part_2, hand_part_2_sensor_0_top -->
    <joint name="hand_part_2_hand_part_2_sensor_0_top_joint" type="fixed">
        <parent link="hand_part_2"/>
        <child link="hand_part_2_sensor_0_top"/>
        <origin xyz="0 0 0.125"
                rpy="0 0 0"/>
        <axis xyz="0 1 0"/>
        
    </joint>


    <!-- hand_part_2_sensor_0_bottom -->
    <link name="hand_part_2_sensor_0_bottom">
        <inertial>
            <origin xyz="0 0 0" rpy="0 0 0"/>
            <mass value="0"/>
            <inertia ixx=".1" ixy=".1" ixz=".1" iyy=".1" iyz=".1" izz=".1"/>
        </inertial>
        <visual>
            <origin xyz="0 0 0" rpy="0 0 0"/>
            <geometry>
                <box size="0.6180339887498948 0.2 0.02"/>
            </geometry>
        </visual>
        <collision>
            <origin xyz="0 0 0" rpy="0 0 0"/>
            <geometry>
                <box size="0.6180339887498948 0.2 0.02"/>
            </geometry>
        </collision>
    </link>
    <!-- Joint: hand_part_2, hand_part_2_sensor_0_bottom -->
    <joint name="hand_part_2_hand_part_2_sensor_0_bottom_joint" type="fixed">
        <parent link="hand_part_2"/>
        <child link="hand_part_2_sensor_0_bottom"/>
        <origin xyz="0 0 -0.125"
                rpy="0 0 0"/>
        <axis xyz="0 1 0"/>
        
    </joint>


    <!-- hand_part_2_sensor_0_left -->
    <link name="hand_part_2_sensor_0_left">
        <inertial>
            <origin xyz="0 0 0" rpy="0 0 0"/>
            <mass value="0"/>
            <inertia ixx=".1" ixy=".1" ixz=".1" iyy=".1" iyz=".1" izz=".1"/>
        </inertial>
        <visual>
            <origin xyz="0 0 0" rpy="0 0 0"/>
            <geometry>
                <box size="0.6180339887498948 0.02 0.25"/>
            </geometry>
        </visual>
        <collision>
            <origin xyz="0 0 0" rpy="0 0 0"/>
            <geometry>
                <box size="0.6180339887498948 0.02 0.25"/>
            </geometry>
        </collision>
    </link>
    <!-- Joint: hand_part_2, hand_part_2_sensor_0_left -->
    <joint name="hand_part_2_hand_part_2_sensor_0_left_joint" type="fixed">
        <parent link="hand_part_2"/>
        <child link="hand_part_2_sensor_0_left"/>
        <origin xyz="0 0.1 0"
                rpy="0 0 0"/>
        <axis xyz="0 1 0"/>
        
    </joint>


    <!-- hand_part_2_sensor_0_right -->
    <link name="hand_part_2_sensor_0_right">
        <inertial>
            <origin xyz="0 0 0" rpy="0 0 0"/>
            <mass value="0"/>
            <inertia ixx=".1" ixy=".1" ixz=".1" iyy=".1" iyz=".1" izz=".1"/>
        </inertial>
        <visual>
            <origin xyz="0 0 0" rpy="0 0 0"/>
            <geometry>
                <box size="0.6180339887498948 0.02 0.25"/>
            </geometry>
        </visual>
        <collision>
            <origin xyz="0 0 0" rpy="0 0 0"/>
            <geometry>
                <box size="0.6180339887498948 0.02 0.25"/>
            </geometry>
        </collision>
    </link>
    <!-- Joint: hand_part_2, hand_part_2_sensor_0_right -->
    <joint name="hand_part_2_hand_part_2_sensor_0_right_joint" type="fixed">
        <parent link="hand_part_2"/>
        <child link="hand_part_2_sensor_0_right"/>
        <origin xyz="0 -0.1 0"
                rpy="0 0 0"/>
        <axis xyz="0 1 0"/>
        
    </joint>
    <!-- Joint: hand_part_0, hand_part_2 -->
    <joint name="hand_part_0_hand_part_2_joint" type="fixed">
        <parent link="hand_part_0"/>
        <child link="hand_part_2"/>
        <origin xyz="-0.6571638901489171 0.9045084971874737 0"
                rpy="0 0 -0.3141592653589793"/>
        <axis xyz="0 1 0"/>
        
    </joint>


    <!-- hand_part_3 -->
    <link name="hand_part_3">
        <inertial>
            <origin xyz="0 0 0" rpy="0 0 0"/>
            <mass value="2"/>
            <inertia ixx=".1" ixy=".1" ixz=".1" iyy=".1" iyz=".1" izz=".1"/>
        </inertial>
        <visual>
            <origin xyz="0 0 0" rpy="0 0 0"/>
            <geometry>
                <box size="0.6180339887498948 0.2 0.25"/>
            </geometry>
        </visual>
        <collision>
            <origin xyz="0 0 0" rpy="0 0 0"/>
            <geometry>
                <box size="0.6180339887498948 0.2 0.25"/>
            </geometry>
        </collision>
    </link>


    <!-- hand_part_3_sensor_0_top -->
    <link name="hand_part_3_sensor_0_top">
        <inertial>
            <origin xyz="0 0 0" rpy="0 0 0"/>
            <mass value="0"/>
            <inertia ixx=".1" ixy=".1" ixz=".1" iyy=".1" iyz=".1" izz=".1"/>
        </inertial>
        <visual>
            <origin xyz="0 0 0" rpy="0 0 0"/>
            <geometry>
                <box size="0.6180339887498948 0.2 0.02"/>
            </geometry>
        </visual>
        <collision>
            <origin xyz="0 0 0" rpy="0 0 0"/>
            <geometry>
                <box size="0.6180339887498948 0.2 0.02"/>
            </geometry>
        </collision>
    </link>
    <!-- Joint: hand_part_3, hand_part_3_sensor_0_top -->
    <joint name="hand_part_3_hand_part_3_sensor_0_top_joint" type="fixed">
        <parent link="hand_part_3"/>
        <child link="hand_part_3_sensor_0_top"/>
        <origin xyz="0 0 0.125"
                rpy="0 0 0"/>
        <axis xyz="0 1 0"/>
        
    </joint>


    <!-- hand_part_3_sensor_0_bottom -->
    <link name="hand_part_3_sensor_0_bottom">
        <inertial>
            <origin xyz="0 0 0" rpy="0 0 0"/>
            <mass value="0"/>
            <inertia ixx=".1" ixy=".1" ixz=".1" iyy=".1" iyz=".1" izz=".1"/>
        </inertial>
        <visual>
            <origin xyz="0 0 0" rpy="0 0 0"/>
            <geometry>
                <box size="0.6180339887498948 0.2 0.02"/>
            </geometry>
        </visual>
        <collision>
            <origin xyz="0 0 0" rpy="0 0 0"/>
            <geometry>
                <box size="0.6180339887498948 0.2 0.02"/>
            </geometry>
        </collision>
    </link>
    <!-- Joint: hand_part_3, hand_part_3_sensor_0_bottom -->
    <joint name="hand_part_3_hand_part_3_sensor_0_bottom_joint" type="fixed">
        <parent link="hand_part_3"/>
        <child link="hand_part_3_sensor_0_bottom"/>
        <origin xyz="0 0 -0.125"
                rpy="0 0 0"/>
        <axis xyz="0 1 0"/>
        
    </joint>


    <!-- hand_part_3_sensor_0_left -->
    <link name="hand_part_3_sensor_0_left">
        <inertial>
            <origin xyz="0 0 0" rpy="0 0 0"/>
            <mass value="0"/>
            <inertia ixx=".1" ixy=".1" ixz=".1" iyy=".1" iyz=".1" izz=".1"/>
        </inertial>
        <visual>
            <origin xyz="0 0 0" rpy="0 0 0"/>
            <geometry>
                <box size="0.6180339887498948 0.02 0.25"/>
            </geometry>
        </visual>
        <collision>
            <origin xyz="0 0 0" rpy="0 0 0"/>
            <geometry>
                <box size="0.6180339887498948 0.02 0.25"/>
            </geometry>
        </collision>
    </link>
    <!-- Joint: hand_part_3, hand_part_3_sensor_0_left -->
    <joint name="hand_part_3_hand_part_3_sensor_0_left_joint" type="fixed">
        <parent link="hand_part_3"/>
        <child link="hand_part_3_sensor_0_left"/>
        <origin xyz="0 0.1 0"
                rpy="0 0 0"/>
        <axis xyz="0 1 0"/>
        
    </joint>


    <!-- hand_part_3_sensor_0_right -->
    <link name="hand_part_3_sensor_0_right">
        <inertial>
            <origin xyz="0 0 0" rpy="0 0 0"/>
            <mass value="0"/>
            <inertia ixx=".1" ixy=".1" ixz=".1" iyy=".1" iyz=".1" izz=".1"/>
        </inertial>
        <visual>
            <origin xyz="0 0 0" rpy="0 0 0"/>
            <geometry>
                <box size="0.6180339887498948 0.02 0.25"/>
            </geometry>
        </visual>
        <collision>
            <origin xyz="0 0 0" rpy="0 0 0"/>
            <geometry>
                <box size="0.6180339887498948 0.02 0.25"/>
            </geometry>
        </collision>
    </link>
    <!-- Joint: hand_part_3, hand_part_3_sensor_0_right -->
    <joint name="hand_part_3_hand_part_3_sensor_0_right_joint" type="fixed">
        <parent link="hand_part_3"/>
        <child link="hand_part_3_sensor_0_right"/>
        <origin xyz="0 -0.1 0"
                rpy="0 0 0"/>
        <axis xyz="0 1 0"/>
        
    </joint>
    <!-- Joint: hand_part_0, hand_part_3 -->
    <joint name="hand_part_0_hand_part_3_joint" type="fixed">
        <parent link="hand_part_0"/>
        <child link="hand_part_3"/>
        <origin xyz="-1.2449491424413903 0.9045084971874738 0"
                rpy="0 0 0.3141592653589793"/>
        <axis xyz="0 1 0"/>
        
    </joint>


    <!-- hand_part_4 -->
    <link name="hand_part_4">
        <inertial>
            <origin xyz="0 0 0" rpy="0 0 0"/>
            <mass value="2"/>
            <inertia ixx=".1" ixy=".1" ixz=".1" iyy=".1" iyz=".1" izz=".1"/>
        </inertial>
        <visual>
            <origin xyz="0 0 0" rpy="0 0 0"/>
            <geometry>
                <box size="0.6180339887498948 0.2 0.25"/>
            </geometry>
        </visual>
        <collision>
            <origin xyz="0 0 0" rpy="0 0 0"/>
            <geometry>
                <box size="0.6180339887498948 0.2 0.25"/>
            </geometry>
        </collision>
    </link>


    <!-- hand_part_4_sensor_0_top -->
    <link name="hand_part_4_sensor_0_top">
        <inertial>
            <origin xyz="0 0 0" rpy="0 0 0"/>
            <mass value="0"/>
            <inertia ixx=".1" ixy=".1" ixz=".1" iyy=".1" iyz=".1" izz=".1"/>
        </inertial>
        <visual>
            <origin xyz="0 0 0" rpy="0 0 0"/>
            <geometry>
                <box size="0.6180339887498948 0.2 0.02"/>
            </geometry>
        </visual>
        <collision>
            <origin xyz="0 0 0" rpy="0 0 0"/>
            <geometry>
                <box size="0.6180339887498948 0.2 0.02"/>
            </geometry>
        </collision>
    </link>
    <!-- Joint: hand_part_4, hand_part_4_sensor_0_top -->
    <joint name="hand_part_4_hand_part_4_sensor_0_top_joint" type="fixed">
        <parent link="hand_part_4"/>
        <child link="hand_part_4_sensor_0_top"/>
        <origin xyz="0 0 0.125"
                rpy="0 0 0"/>
        <axis xyz="0 1 0"/>
        
    </joint>


    <!-- hand_part_4_sensor_0_bottom -->
    <link name="hand_part_4_sensor_0_bottom">
        <inertial>
            <origin xyz="0 0 0" rpy="0 0 0"/>
            <mass value="0"/>
            <inertia ixx=".1" ixy=".1" ixz=".1" iyy=".1" iyz=".1" izz=".1"/>
        </inertial>
        <visual>
            <origin xyz="0 0 0" rpy="0 0 0"/>
            <geometry>
                <box size="0.6180339887498948 0.2 0.02"/>
            </geometry>
        </visual>
        <collision>
            <origin xyz="0 0 0" rpy="0 0 0"/>
            <geometry>
                <box size="0.6180339887498948 0.2 0.02"/>
            </geometry>
        </collision>
    </link>
    <!-- Joint: hand_part_4, hand_part_4_sensor_0_bottom -->
    <joint name="hand_part_4_hand_part_4_sensor_0_bottom_joint" type="fixed">
        <parent link="hand_part_4"/>
        <child link="hand_part_4_sensor_0_bottom"/>
        <origin xyz="0 0 -0.125"
                rpy="0 0 0"/>
        <axis xyz="0 1 0"/>
        
    </joint>


    <!-- hand_part_4_sensor_0_left -->
    <link name="hand_part_4_sensor_0_left">
        <inertial>
            <origin xyz="0 0 0" rpy="0 0 0"/>
            <mass value="0"/>
            <inertia ixx=".1" ixy=".1" ixz=".1" iyy=".1" iyz=".1" izz=".1"/>
        </inertial>
        <visual>
            <origin xyz="0 0 0" rpy="0 0 0"/>
            <geometry>
                <box size="0.6180339887498948 0.02 0.25"/>
            </geometry>
        </visual>
        <collision>
            <origin xyz="0 0 0" rpy="0 0 0"/>
            <geometry>
                <box size="0.6180339887498948 0.02 0.25"/>
            </geometry>
        </collision>
    </link>
    <!-- Joint: hand_part_4, hand_part_4_sensor_0_left -->
    <joint name="hand_part_4_hand_part_4_sensor_0_left_joint" type="fixed">
        <parent link="hand_part_4"/>
        <child link="hand_part_4_sensor_0_left"/>
        <origin xyz="0 0.1 0"
                rpy="0 0 0"/>
        <axis xyz="0 1 0"/>
        
    </joint>


    <!-- hand_part_4_sensor_0_right -->
    <link name="hand_part_4_sensor_0_right">
        <inertial>
            <origin xyz="0 0 0" rpy="0 0 0"/>
            <mass value="0"/>
            <inertia ixx=".1" ixy=".1" ixz=".1" iyy=".1" iyz=".1" izz=".1"/>
        </inertial>
        <visual>
            <origin xyz="0 0 0" rpy="0 0 0"/>
            <geometry>
                <box size="0.6180339887498948 0.02 0.25"/>
            </geometry>
        </visual>
        <collision>
            <origin xyz="0 0 0" rpy="0 0 0"/>
            <geometry>
                <box size="0.6180339887498948 0.02 0.25"/>
            </geometry>
        </collision>
    </link>
    <!-- Joint: hand_part_4, hand_part_4_sensor_0_right -->
    <joint name="hand_part_4_hand_part_4_sensor_0_right_joint" type="fixed">
        <parent link="hand_part_4"/>
        <child link="hand_part_4_sensor_0_right"/>
        <origin xyz="0 -0.1 0"
                rpy="0 0 0"/>
        <axis xyz="0 1 0"/>
        
    </joint>
    <!-- Joint: hand_part_0, hand_part_4 -->
    <joint name="hand_part_0_hand_part_4_joint" type="fixed">
        <parent link="hand_part_0"/>
        <child link="hand_part_4"/>
        <origin xyz="-1.7204774005889671 0.5590169943749476 0"
                rpy="0 0 0.9424777960769379"/>
        <axis xyz="0 1 0"/>
        
    </joint>


    <!-- hand_part_5 -->
    <link name="hand_part_5">
        <inertial>
            <origin xyz="0 0 0" rpy="0 0 0"/>
            <mass value="2"/>
            <inertia ixx=".1" ixy=".1" ixz=".1" iyy=".1" iyz=".1" izz=".1"/>
        </inertial>
        <visual>
            <origin xyz="0 0 0" rpy="0 0 0"/>
            <geometry>
                <box size="0.6180339887498948 0.2 0.25"/>
            </geometry>
        </visual>
        <collision>
            <origin xyz="0 0 0" rpy="0 0 0"/>
            <geometry>
                <box size="0.6180339887498948 0.2 0.25"/>
            </geometry>
        </collision>
    </link>


    <!-- hand_part_5_sensor_0_top -->
    <link name="hand_part_5_sensor_0_top">
        <inertial>
            <origin xyz="0 0 0" rpy="0 0 0"/>
            <mass value="0"/>
            <inertia ixx=".1" ixy=".1" ixz=".1" iyy=".1" iyz=".1" izz=".1"/>
        </inertial>
        <visual>
            <origin xyz="0 0 0" rpy="0 0 0"/>
            <geometry>
                <box size="0.6180339887498948 0.2 0.02"/>
            </geometry>
        </visual>
        <collision>
            <origin xyz="0 0 0" rpy="0 0 0"/>
            <geometry>
                <box size="0.6180339887498948 0.2 0.02"/>
            </geometry>
        </collision>
    </link>
    <!-- Joint: hand_part_5, hand_part_5_sensor_0_top -->
    <joint name="hand_part_5_hand_part_5_sensor_0_top_joint" type="fixed">
        <parent link="hand_part_5"/>
        <child link="hand_part_5_sensor_0_top"/>
        <origin xyz="0 0 0.125"
                rpy="0 0 0"/>
        <axis xyz="0 1 0"/>
        
    </joint>


    <!-- hand_part_5_sensor_0_bottom -->
    <link name="hand_part_5_sensor_0_bottom">
        <inertial>
            <origin xyz="0 0 0" rpy="0 0 0"/>
            <mass value="0"/>
            <inertia ixx=".1" ixy=".1" ixz=".1" iyy=".1" iyz=".1" izz=".1"/>
        </inertial>
        <visual>
            <origin xyz="0 0 0" rpy="0 0 0"/>
            <geometry>
                <box size="0.6180339887498948 0.2 0.02"/>
            </geometry>
        </visual>
        <collision>
            <origin xyz="0 0 0" rpy="0 0 0"/>
            <geometry>
                <box size="0.6180339887498948 0.2 0.02"/>
            </geometry>
        </collision>
    </link>
    <!-- Joint: hand_part_5, hand_part_5_sensor_0_bottom -->
    <joint name="hand_part_5_hand_part_5_sensor_0_bottom_joint" type="fixed">
        <parent link="hand_part_5"/>
        <child link="hand_part_5_sensor_0_bottom"/>
        <origin xyz="0 0 -0.125"
                rpy="0 0 0"/>
        <axis xyz="0 1 0"/>
        
    </joint>


    <!-- hand_part_5_sensor_0_left -->
    <link name="hand_part_5_sensor_0_left">
        <inertial>
            <origin xyz="0 0 0" rpy="0 0 0"/>
            <mass value="0"/>
            <inertia ixx=".1" ixy=".1" ixz=".1" iyy=".1" iyz=".1" izz=".1"/>
        </inertial>
        <visual>
            <origin xyz="0 0 0" rpy="0 0 0"/>
            <geometry>
                <box size="0.6180339887498948 0.02 0.25"/>
            </geometry>
        </visual>
        <collision>
            <origin xyz="0 0 0" rpy="0 0 0"/>
            <geometry>
                <box size="0.6180339887498948 0.02 0.25"/>
            </geometry>
        </collision>
    </link>
    <!-- Joint: hand_part_5, hand_part_5_sensor_0_left -->
    <joint name="hand_part_5_hand_part_5_sensor_0_left_joint" type="fixed">
        <parent link="hand_part_5"/>
        <child link="hand_part_5_sensor_0_left"/>
        <origin xyz="0 0.1 0"
                rpy="0 0 0"/>
        <axis xyz="0 1 0"/>
        
    </joint>


    <!-- hand_part_5_sensor_0_right -->
    <link name="hand_part_5_sensor_0_right">
        <inertial>
            <origin xyz="0 0 0" rpy="0 0 0"/>
            <mass value="0"/>
            <inertia ixx=".1" ixy=".1" ixz=".1" iyy=".1" iyz=".1" izz=".1"/>
        </inertial>
        <visual>
            <origin xyz="0 0 0" rpy="0 0 0"/>
            <geometry>
                <box size="0.6180339887498948 0.02 0.25"/>
            </geometry>
        </visual>
        <collision>
            <origin xyz="0 0 0" rpy="0 0 0"/>
            <geometry>
                <box size="0.6180339887498948 0.02 0.25"/>
            </geometry>
        </collision>
    </link>
    <!-- Joint: hand_part_5, hand_part_5_sensor_0_right -->
    <joint name="hand_part_5_hand_part_5_sensor_0_right_joint" type="fixed">
        <parent link="hand_part_5"/>
        <child link="hand_part_5_sensor_0_right"/>
        <origin xyz="0 -0.1 0"
                rpy="0 0 0"/>
        <axis xyz="0 1 0"/>
        
    </joint>
    <!-- Joint: hand_part_0, hand_part_5 -->
    <joint name="hand_part_0_hand_part_5_joint" type="fixed">
        <parent link="hand_part_0"/>
        <child link="hand_part_5"/>
        <origin xyz="-1.9021130325903073 1.1647083184890926e-16 0"
                rpy="0 0 1.5707963267948966"/>
        <axis xyz="0 1 0"/>
        
    </joint>


    <!-- hand_part_6 -->
    <link name="hand_part_6">
        <inertial>
            <origin xyz="0 0 0" rpy="0 0 0"/>
            <mass value="2"/>
            <inertia ixx=".1" ixy=".1" ixz=".1" iyy=".1" iyz=".1" izz=".1"/>
        </inertial>
        <visual>
            <origin xyz="0 0 0" rpy="0 0 0"/>
            <geometry>
                <box size="0.6180339887498948 0.2 0.25"/>
            </geometry>
        </visual>
        <collision>
            <origin xyz="0 0 0" rpy="0 0 0"/>
            <geometry>
                <box size="0.6180339887498948 0.2 0.25"/>
            </geometry>
        </collision>
    </link>


    <!-- hand_part_6_sensor_0_top -->
    <link name="hand_part_6_sensor_0_top">
        <inertial>
            <origin xyz="0 0 0" rpy="0 0 0"/>
            <mass value="0"/>
            <inertia ixx=".1" ixy=".1" ixz=".1" iyy=".1" iyz=".1" izz=".1"/>
        </inertial>
        <visual>
            <origin xyz="0 0 0" rpy="0 0 0"/>
            <geometry>
                <box size="0.6180339887498948 0.2 0.02"/>
            </geometry>
        </visual>
        <collision>
            <origin xyz="0 0 0" rpy="0 0 0"/>
            <geometry>
                <box size="0.6180339887498948 0.2 0.02"/>
            </geometry>
        </collision>
    </link>
    <!-- Joint: hand_part_6, hand_part_6_sensor_0_top -->
    <joint name="hand_part_6_hand_part_6_sensor_0_top_joint" type="fixed">
        <parent link="hand_part_6"/>
        <child link="hand_part_6_sensor_0_top"/>
        <origin xyz="0 0 0.125"
                rpy="0 0 0"/>
        <axis xyz="0 1 0"/>
        
    </joint>


    <!-- hand_part_6_sensor_0_bottom -->
    <link name="hand_part_6_sensor_0_bottom">
        <inertial>
            <origin xyz="0 0 0" rpy="0 0 0"/>
            <mass value="0"/>
            <inertia ixx=".1" ixy=".1" ixz=".1" iyy=".1" iyz=".1" izz=".1"/>
        </inertial>
        <visual>
            <origin xyz="0 0 0" rpy="0 0 0"/>
            <geometry>
                <box size="0.6180339887498948 0.2 0.02"/>
            </geometry>
        </visual>
        <collision>
            <origin xyz="0 0 0" rpy="0 0 0"/>
            <geometry>
                <box size="0.6180339887498948 0.2 0.02"/>
            </geometry>
        </collision>
    </link>
    <!-- Joint: hand_part_6, hand_part_6_sensor_0_bottom -->
    <joint name="hand_part_6_hand_part_6_sensor_0_bottom_joint" type="fixed">
        <parent link="hand_part_6"/>
        <child link="hand_part_6_sensor_0_bottom"/>
        <origin xyz="0 0 -0.125"
                rpy="0 0 0"/>
        <axis xyz="0 1 0"/>
        
    </joint>


    <!-- hand_part_6_sensor_0_left -->
    <link name="hand_part_6_sensor_0_left">
        <inertial>
            <origin xyz="0 0 0" rpy="0 0 0"/>
            <mass value="0"/>
            <inertia ixx=".1" ixy=".1" ixz=".1" iyy=".1" iyz=".1" izz=".1"/>
        </inertial>
        <visual>
            <origin xyz="0 0 0" rpy="0 0 0"/>
            <geometry>
                <box size="0.6180339887498948 0.02 0.25"/>
            </geometry>
        </visual>
        <collision>
            <origin xyz="0 0 0" rpy="0 0 0"/>
            <geometry>
                <box size="0.6180339887498948 0.02 0.25"/>
            </geometry>
        </collision>
    </link>
    <!-- Joint: hand_part_6, hand_part_6_sensor_0_left -->
    <joint name="hand_part_6_hand_part_6_sensor_0_left_joint" type="fixed">
        <parent link="hand_part_6"/>
        <child link="hand_part_6_sensor_0_left"/>
        <origin xyz="0 0.1 0"
                rpy="0 0 0"/>
        <axis xyz="0 1 0"/>
        
    </joint>


    <!-- hand_part_6_sensor_0_right -->
    <link name="hand_part_6_sensor_0_right">
        <inertial>
            <origin xyz="0 0 0" rpy="0 0 0"/>
            <mass value="0"/>
            <inertia ixx=".1" ixy=".1" ixz=".1" iyy=".1" iyz=".1" izz=".1"/>
        </inertial>
        <visual>
            <origin xyz="0 0 0" rpy="0 0 0"/>
            <geometry>
                <box size="0.6180339887498948 0.02 0.25"/>
            </geometry>
        </visual>
        <collision>
            <origin xyz="0 0 0" rpy="0 0 0"/>
            <geometry>
                <box size="0.6180339887498948 0.02 0.25"/>
            </geometry>
        </collision>
    </link>
    <!-- Joint: hand_part_6, hand_part_6_sensor_0_right -->
    <joint name="hand_part_6_hand_part_6_sensor_0_right_joint" type="fixed">
        <parent link="hand_part_6"/>
        <child link="hand_part_6_sensor_0_right"/>
        <origin xyz="0 -0.1 0"
                rpy="0 0 0"/>
        <axis xyz="0 1 0"/>
        
    </joint>
    <!-- Joint: hand_part_0, hand_part_6 -->
    <joint name="hand_part_0_hand_part_6_joint" type="fixed">
        <parent link="hand_part_0"/>
        <child link="hand_part_6"/>
        <origin xyz="-1.7204774005889671 -0.5590169943749473 0"
                rpy="0 0 2.199114857512855"/>
        <axis xyz="0 1 0"/>
        
    </joint>


    <!-- hand_part_7 -->
    <link name="hand_part_7">
        <inertial>
            <origin xyz="0 0 0" rpy="0 0 0"/>
            <mass value="2"/>
            <inertia ixx=".1" ixy=".1" ixz=".1" iyy=".1" iyz=".1" izz=".1"/>
        </inertial>
        <visual>
            <origin xyz="0 0 0" rpy="0 0 0"/>
            <geometry>
                <box size="0.6180339887498948 0.2 0.25"/>
            </geometry>
        </visual>
        <collision>
            <origin xyz="0 0 0" rpy="0 0 0"/>
            <geometry>
                <box size="0.6180339887498948 0.2 0.25"/>
            </geometry>
        </collision>
    </link>


    <!-- hand_part_7_sensor_0_top -->
    <link name="hand_part_7_sensor_0_top">
        <inertial>
            <origin xyz="0 0 0" rpy="0 0 0"/>
            <mass value="0"/>
            <inertia ixx=".1" ixy=".1" ixz=".1" iyy=".1" iyz=".1" izz=".1"/>
        </inertial>
        <visual>
            <origin xyz="0 0 0" rpy="0 0 0"/>
            <geometry>
                <box size="0.6180339887498948 0.2 0.02"/>
            </geometry>
        </visual>
        <collision>
            <origin xyz="0 0 0" rpy="0 0 0"/>
            <geometry>
                <box size="0.6180339887498948 0.2 0.02"/>
            </geometry>
        </collision>
    </link>
    <!-- Joint: hand_part_7, hand_part_7_sensor_0_top -->
    <joint name="hand_part_7_hand_part_7_sensor_0_top_joint" type="fixed">
        <parent link="hand_part_7"/>
        <child link="hand_part_7_sensor_0_top"/>
        <origin xyz="0 0 0.125"
                rpy="0 0 0"/>
        <axis xyz="0 1 0"/>
        
    </joint>


    <!-- hand_part_7_sensor_0_bottom -->
    <link name="hand_part_7_sensor_0_bottom">
        <inertial>
            <origin xyz="0 0 0" rpy="0 0 0"/>
            <mass value="0"/>
            <inertia ixx=".1" ixy=".1" ixz=".1" iyy=".1" iyz=".1" izz=".1"/>
        </inertial>
        <visual>
            <origin xyz="0 0 0" rpy="0 0 0"/>
            <geometry>
                <box size="0.6180339887498948 0.2 0.02"/>
            </geometry>
        </visual>
        <collision>
            <origin xyz="0 0 0" rpy="0 0 0"/>
            <geometry>
                <box size="0.6180339887498948 0.2 0.02"/>
            </geometry>
        </collision>
    </link>
    <!-- Joint: hand_part_7, hand_part_7_sensor_0_bottom -->
    <joint name="hand_part_7_hand_part_7_sensor_0_bottom_joint" type="fixed">
        <parent link="hand_part_7"/>
        <child link="hand_part_7_sensor_0_bottom"/>
        <origin xyz="0 0 -0.125"
                rpy="0 0 0"/>
        <axis xyz="0 1 0"/>
        
    </joint>


    <!-- hand_part_7_sensor_0_left -->
    <link name="hand_part_7_sensor_0_left">
        <inertial>
            <origin xyz="0 0 0" rpy="0 0 0"/>
            <mass value="0"/>
            <inertia ixx=".1" ixy=".1" ixz=".1" iyy=".1" iyz=".1" izz=".1"/>
        </inertial>
        <visual>
            <origin xyz="0 0 0" rpy="0 0 0"/>
            <geometry>
                <box size="0.6180339887498948 0.02 0.25"/>
            </geometry>
        </visual>
        <collision>
            <origin xyz="0 0 0" rpy="0 0 0"/>
            <geometry>
                <box size="0.6180339887498948 0.02 0.25"/>
            </geometry>
        </collision>
    </link>
    <!-- Joint: hand_part_7, hand_part_7_sensor_0_left -->
    <joint name="hand_part_7_hand_part_7_sensor_0_left_joint" type="fixed">
        <parent link="hand_part_7"/>
        <child link="hand_part_7_sensor_0_left"/>
        <origin xyz="0 0.1 0"
                rpy="0 0 0"/>
        <axis xyz="0 1 0"/>
        
    </joint>


    <!-- hand_part_7_sensor_0_right -->
    <link name="hand_part_7_sensor_0_right">
        <inertial>
            <origin xyz="0 0 0" rpy="0 0 0"/>
            <mass value="0"/>
            <inertia ixx=".1" ixy=".1" ixz=".1" iyy=".1" iyz=".1" izz=".1"/>
        </inertial>
        <visual>
            <origin xyz="0 0 0" rpy="0 0 0"/>
            <geometry>
                <box size="0.6180339887498948 0.02 0.25"/>
            </geometry>
        </visual>
        <collision>
            <origin xyz="0 0 0" rpy="0 0 0"/>
            <geometry>
                <box size="0.6180339887498948 0.02 0.25"/>
            </geometry>
        </collision>
    </link>
    <!-- Joint: hand_part_7, hand_part_7_sensor_0_right -->
    <joint name="hand_part_7_hand_part_7_sensor_0_right_joint" type="fixed">
        <parent link="hand_part_7"/>
        <child link="hand_part_7_sensor_0_right"/>
        <origin xyz="0 -0.1 0"
                rpy="0 0 0"/>
        <axis xyz="0 1 0"/>
        
    </joint>
    <!-- Joint: hand_part_0, hand_part_7 -->
    <joint name="hand_part_0_hand_part_7_joint" type="fixed">
        <parent link="hand_part_0"/>
        <child link="hand_part_7"/>
        <origin xyz="-1.2449491424413903 -0.9045084971874737 0"
                rpy="0 0 2.827433388230814"/>
        <axis xyz="0 1 0"/>
        
    </joint>


    <!-- hand_part_8 -->
    <link name="hand_part_8">
        <inertial>
            <origin xyz="0 0 0" rpy="0 0 0"/>
            <mass value="2"/>
            <inertia ixx=".1" ixy=".1" ixz=".1" iyy=".1" iyz=".1" izz=".1"/>
        </inertial>
        <visual>
            <origin xyz="0 0 0" rpy="0 0 0"/>
            <geometry>
                <box size="0.6180339887498948 0.2 0.25"/>
            </geometry>
        </visual>
        <collision>
            <origin xyz="0 0 0" rpy="0 0 0"/>
            <geometry>
                <box size="0.6180339887498948 0.2 0.25"/>
            </geometry>
        </collision>
    </link>


    <!-- hand_part_8_sensor_0_top -->
    <link name="hand_part_8_sensor_0_top">
        <inertial>
            <origin xyz="0 0 0" rpy="0 0 0"/>
            <mass value="0"/>
            <inertia ixx=".1" ixy=".1" ixz=".1" iyy=".1" iyz=".1" izz=".1"/>
        </inertial>
        <visual>
            <origin xyz="0 0 0" rpy="0 0 0"/>
            <geometry>
                <box size="0.6180339887498948 0.2 0.02"/>
            </geometry>
        </visual>
        <collision>
            <origin xyz="0 0 0" rpy="0 0 0"/>
            <geometry>
                <box size="0.6180339887498948 0.2 0.02"/>
            </geometry>
        </collision>
    </link>
    <!-- Joint: hand_part_8, hand_part_8_sensor_0_top -->
    <joint name="hand_part_8_hand_part_8_sensor_0_top_joint" type="fixed">
        <parent link="hand_part_8"/>
        <child link="hand_part_8_sensor_0_top"/>
        <origin xyz="0 0 0.125"
                rpy="0 0 0"/>
        <axis xyz="0 1 0"/>
        
    </joint>


    <!-- hand_part_8_sensor_0_bottom -->
    <link name="hand_part_8_sensor_0_bottom">
        <inertial>
            <origin xyz="0 0 0" rpy="0 0 0"/>
            <mass value="0"/>
            <inertia ixx=".1" ixy=".1" ixz=".1" iyy=".1" iyz=".1" izz=".1"/>
        </inertial>
        <visual>
            <origin xyz="0 0 0" rpy="0 0 0"/>
            <geometry>
                <box size="0.6180339887498948 0.2 0.02"/>
            </geometry>
        </visual>
        <collision>
            <origin xyz="0 0 0" rpy="0 0 0"/>
            <geometry>
                <box size="0.6180339887498948 0.2 0.02"/>
            </geometry>
        </collision>
    </link>
    <!-- Joint: hand_part_8, hand_part_8_sensor_0_bottom -->
    <joint name="hand_part_8_hand_part_8_sensor_0_bottom_joint" type="fixed">
        <parent link="hand_part_8"/>
        <child link="hand_part_8_sensor_0_bottom"/>
        <origin xyz="0 0 -0.125"
                rpy="0 0 0"/>
        <axis xyz="0 1 0"/>
        
    </joint>


    <!-- hand_part_8_sensor_0_left -->
    <link name="hand_part_8_sensor_0_left">
        <inertial>
            <origin xyz="0 0 0" rpy="0 0 0"/>
            <mass value="0"/>
            <inertia ixx=".1" ixy=".1" ixz=".1" iyy=".1" iyz=".1" izz=".1"/>
        </inertial>
        <visual>
            <origin xyz="0 0 0" rpy="0 0 0"/>
            <geometry>
                <box size="0.6180339887498948 0.02 0.25"/>
            </geometry>
        </visual>
        <collision>
            <origin xyz="0 0 0" rpy="0 0 0"/>
            <geometry>
                <box size="0.6180339887498948 0.02 0.25"/>
            </geometry>
        </collision>
    </link>
    <!-- Joint: hand_part_8, hand_part_8_sensor_0_left -->
    <joint name="hand_part_8_hand_part_8_sensor_0_left_joint" type="fixed">
        <parent link="hand_part_8"/>
        <child link="hand_part_8_sensor_0_left"/>
        <origin xyz="0 0.1 0"
                rpy="0 0 0"/>
        <axis xyz="0 1 0"/>
        
    </joint>


    <!-- hand_part_8_sensor_0_right -->
    <link name="hand_part_8_sensor_0_right">
        <inertial>
            <origin xyz="0 0 0" rpy="0 0 0"/>
            <mass value="0"/>
            <inertia ixx=".1" ixy=".1" ixz=".1" iyy=".1" iyz=".1" izz=".1"/>
        </inertial>
        <visual>
            <origin xyz="0 0 0" rpy="0 0 0"/>
            <geometry>
                <box size="0.6180339887498948 0.02 0.25"/>
            </geometry>
        </visual>
        <collision>
            <origin xyz="0 0 0" rpy="0 0 0"/>
            <geometry>
                <box size="0.6180339887498948 0.02 0.25"/>
            </geometry>
        </collision>
    </link>
    <!-- Joint: hand_part_8, hand_part_8_sensor_0_right -->
    <joint name="hand_part_8_hand_part_8_sensor_0_right_joint" type="fixed">
        <parent link="hand_part_8"/>
        <child link="hand_part_8_sensor_0_right"/>
        <origin xyz="0 -0.1 0"
                rpy="0 0 0"/>
        <axis xyz="0 1 0"/>
        
    </joint>
    <!-- Joint: hand_part_0, hand_part_8 -->
    <joint name="hand_part_0_hand_part_8_joint" type="fixed">
        <parent link="hand_part_0"/>
        <child link="hand_part_8"/>
        <origin xyz="-0.6571638901489173 -0.9045084971874738 0"
                rpy="0 0 3.4557519189487724"/>
        <axis xyz="0 1 0"/>
        
    </joint>


    <!-- hand_part_9 -->
    <link name="hand_part_9">
        <inertial>
            <origin xyz="0 0 0" rpy="0 0 0"/>
            <mass value="2"/>
            <inertia ixx=".1" ixy=".1" ixz=".1" iyy=".1" iyz=".1" izz=".1"/>
        </inertial>
        <visual>
            <origin xyz="0 0 0" rpy="0 0 0"/>
            <geometry>
                <box size="0.6180339887498948 0.2 0.25"/>
            </geometry>
        </visual>
        <collision>
            <origin xyz="0 0 0" rpy="0 0 0"/>
            <geometry>
                <box size="0.6180339887498948 0.2 0.25"/>
            </geometry>
        </collision>
    </link>


    <!-- hand_part_9_sensor_0_top -->
    <link name="hand_part_9_sensor_0_top">
        <inertial>
            <origin xyz="0 0 0" rpy="0 0 0"/>
            <mass value="0"/>
            <inertia ixx=".1" ixy=".1" ixz=".1" iyy=".1" iyz=".1" izz=".1"/>
        </inertial>
        <visual>
            <origin xyz="0 0 0" rpy="0 0 0"/>
            <geometry>
                <box size="0.6180339887498948 0.2 0.02"/>
            </geometry>
        </visual>
        <collision>
            <origin xyz="0 0 0" rpy="0 0 0"/>
            <geometry>
                <box size="0.6180339887498948 0.2 0.02"/>
            </geometry>
        </collision>
    </link>
    <!-- Joint: hand_part_9, hand_part_9_sensor_0_top -->
    <joint name="hand_part_9_hand_part_9_sensor_0_top_joint" type="fixed">
        <parent link="hand_part_9"/>
        <child link="hand_part_9_sensor_0_top"/>
        <origin xyz="0 0 0.125"
                rpy="0 0 0"/>
        <axis xyz="0 1 0"/>
        
    </joint>


    <!-- hand_part_9_sensor_0_bottom -->
    <link name="hand_part_9_sensor_0_bottom">
        <inertial>
            <origin xyz="0 0 0" rpy="0 0 0"/>
            <mass value="0"/>
            <inertia ixx=".1" ixy=".1" ixz=".1" iyy=".1" iyz=".1" izz=".1"/>
        </inertial>
        <visual>
            <origin xyz="0 0 0" rpy="0 0 0"/>
            <geometry>
                <box size="0.6180339887498948 0.2 0.02"/>
            </geometry>
        </visual>
        <collision>
            <origin xyz="0 0 0" rpy="0 0 0"/>
            <geometry>
                <box size="0.6180339887498948 0.2 0.02"/>
            </geometry>
        </collision>
    </link>
    <!-- Joint: hand_part_9, hand_part_9_sensor_0_bottom -->
    <joint name="hand_part_9_hand_part_9_sensor_0_bottom_joint" type="fixed">
        <parent link="hand_part_9"/>
        <child link="hand_part_9_sensor_0_bottom"/>
        <origin xyz="0 0 -0.125"
                rpy="0 0 0"/>
        <axis xyz="0 1 0"/>
        
    </joint>


    <!-- hand_part_9_sensor_0_left -->
    <link name="hand_part_9_sensor_0_left">
        <inertial>
            <origin xyz="0 0 0" rpy="0 0 0"/>
            <mass value="0"/>
            <inertia ixx=".1" ixy=".1" ixz=".1" iyy=".1" iyz=".1" izz=".1"/>
        </inertial>
        <visual>
            <origin xyz="0 0 0" rpy="0 0 0"/>
            <geometry>
                <box size="0.6180339887498948 0.02 0.25"/>
            </geometry>
        </visual>
        <collision>
            <origin xyz="0 0 0" rpy="0 0 0"/>
            <geometry>
                <box size="0.6180339887498948 0.02 0.25"/>
            </geometry>
        </collision>
    </link>
    <!-- Joint: hand_part_9, hand_part_9_sensor_0_left -->
    <joint name="hand_part_9_hand_part_9_sensor_0_left_joint" type="fixed">
        <parent link="hand_part_9"/>
        <child link="hand_part_9_sensor_0_left"/>
        <origin xyz="0 0.1 0"
                rpy="0 0 0"/>
        <axis xyz="0 1 0"/>
        
    </joint>


    <!-- hand_part_9_sensor_0_right -->
    <link name="hand_part_9_sensor_0_right">
        <inertial>
            <origin xyz="0 0 0" rpy="0 0 0"/>
            <mass value="0"/>
            <inertia ixx=".1" ixy=".1" ixz=".1" iyy=".1" iyz=".1" izz=".1"/>
        </inertial>
        <visual>
            <origin xyz="0 0 0" rpy="0 0 0"/>
            <geometry>
                <box size="0.6180339887498948 0.02 0.25"/>
            </geometry>
        </visual>
        <collision>
            <origin xyz="0 0 0" rpy="0 0 0"/>
            <geometry>
                <box size="0.6180339887498948 0.02 0.25"/>
            </geometry>
        </collision>
    </link>
    <!-- Joint: hand_part_9, hand_part_9_sensor_0_right -->
    <joint name="hand_part_9_hand_part_9_sensor_0_right_joint" type="fixed">
        <parent link="hand_part_9"/>
        <child link="hand_part_9_sensor_0_right"/>
        <origin xyz="0 -0.1 0"
                rpy="0 0 0"/>
        <axis xyz="0 1 0"/>
        
    </joint>
    <!-- Joint: hand_part_0, hand_part_9 -->
    <joint name="hand_part_0_hand_part_9_joint" type="fixed">
        <parent link="hand_part_0"/>
        <child link="hand_part_9"/>
        <origin xyz="-0.1816356320013403 -0.5590169943749477 0"
                rpy="0 0 4.084070449666731"/>
        <axis xyz="0 1 0"/>
        
    </joint>


    <!-- body_face_front_0 -->
    <link name="body_face_front_0">
        <inertial>
            <origin xyz="0 0 0" rpy="0 0 0"/>
            <mass value="0"/>
            <inertia ixx=".1" ixy=".1" ixz=".1" iyy=".1" iyz=".1" izz=".1"/>
        </inertial>
        <visual>
            <origin xyz="0 0 0" rpy="0 0 0"/>
            <geometry>
                <box size="0.002 0.1111111111111111 0.1111111111111111"/>
            </geometry>
        </visual>
        <collision>
            <origin xyz="0 0 0" rpy="0 0 0"/>
            <geometry>
                <box size="0.002 0.1111111111111111 0.1111111111111111"/>
            </geometry>
        </collision>
    </link>
    <!-- Joint: body, body_face_front_0 -->
    <joint name="body_body_face_front_0_joint" type="fixed">
        <parent link="body"/>
        <child link="body_face_front_0"/>
        <origin xyz="0.501 -0.33333333333333337 0.11111111111111116"
                rpy="0 0 0"/>
        <axis xyz="0 0 1"/>
        
    </joint>


    <!-- body_face_front_1 -->
    <link name="body_face_front_1">
        <inertial>
            <origin xyz="0 0 0" rpy="0 0 0"/>
            <mass value="0"/>
            <inertia ixx=".1" ixy=".1" ixz=".1" iyy=".1" iyz=".1" izz=".1"/>
        </inertial>
        <visual>
            <origin xyz="0 0 0" rpy="0 0 0"/>
            <geometry>
                <box size="0.002 0.1111111111111111 0.1111111111111111"/>
            </geometry>
        </visual>
        <collision>
            <origin xyz="0 0 0" rpy="0 0 0"/>
            <geometry>
                <box size="0.002 0.1111111111111111 0.1111111111111111"/>
            </geometry>
        </collision>
    </link>
    <!-- Joint: body, body_face_front_1 -->
    <joint name="body_body_face_front_1_joint" type="fixed">
        <parent link="body"/>
        <child link="body_face_front_1"/>
        <origin xyz="0.501 -0.2222222222222222 0.2222222222222222"
                rpy="0 0 0"/>
        <axis xyz="0 0 1"/>
        
    </joint>


    <!-- body_face_front_2 -->
    <link name="body_face_front_2">
        <inertial>
            <origin xyz="0 0 0" rpy="0 0 0"/>
            <mass value="0"/>
            <inertia ixx=".1" ixy=".1" ixz=".1" iyy=".1" iyz=".1" izz=".1"/>
        </inertial>
        <visual>
            <origin xyz="0 0 0" rpy="0 0 0"/>
            <geometry>
                <box size="0.002 0.1111111111111111 0.1111111111111111"/>
            </geometry>
        </visual>
        <collision>
            <origin xyz="0 0 0" rpy="0 0 0"/>
            <geometry>
                <box size="0.002 0.1111111111111111 0.1111111111111111"/>
            </geometry>
        </collision>
    </link>
    <!-- Joint: body, body_face_front_2 -->
    <joint name="body_body_face_front_2_joint" type="fixed">
        <parent link="body"/>
        <child link="body_face_front_2"/>
        <origin xyz="0.501 -0.1111111111111111 0.11111111111111116"
                rpy="0 0 0"/>
        <axis xyz="0 0 1"/>
        
    </joint>


    <!-- body_face_front_3 -->
    <link name="body_face_front_3">
        <inertial>
            <origin xyz="0 0 0" rpy="0 0 0"/>
            <mass value="0"/>
            <inertia ixx=".1" ixy=".1" ixz=".1" iyy=".1" iyz=".1" izz=".1"/>
        </inertial>
        <visual>
            <origin xyz="0 0 0" rpy="0 0 0"/>
            <geometry>
                <box size="0.002 0.1111111111111111 0.1111111111111111"/>
            </geometry>
        </visual>
        <collision>
            <origin xyz="0 0 0" rpy="0 0 0"/>
            <geometry>
                <box size="0.002 0.1111111111111111 0.1111111111111111"/>
            </geometry>
        </collision>
    </link>
    <!-- Joint: body, body_face_front_3 -->
    <joint name="body_body_face_front_3_joint" type="fixed">
        <parent link="body"/>
        <child link="body_face_front_3"/>
        <origin xyz="0.501 -0.1111111111111111 -0.2222222222222222"
                rpy="0 0 0"/>
        <axis xyz="0 0 1"/>
        
    </joint>


    <!-- body_face_front_4 -->
    <link name="body_face_front_4">
        <inertial>
            <origin xyz="0 0 0" rpy="0 0 0"/>
            <mass value="0"/>
            <inertia ixx=".1" ixy=".1" ixz=".1" iyy=".1" iyz=".1" izz=".1"/>
        </inertial>
        <visual>
            <origin xyz="0 0 0" rpy="0 0 0"/>
            <geometry>
                <box size="0.002 0.1111111111111111 0.1111111111111111"/>
            </geometry>
        </visual>
        <collision>
            <origin xyz="0 0 0" rpy="0 0 0"/>
            <geometry>
                <box size="0.002 0.1111111111111111 0.1111111111111111"/>
            </geometry>
        </collision>
    </link>
    <!-- Joint: body, body_face_front_4 -->
    <joint name="body_body_face_front_4_joint" type="fixed">
        <parent link="body"/>
        <child link="body_face_front_4"/>
        <origin xyz="0.501 0.0 -0.2222222222222222"
                rpy="0 0 0"/>
        <axis xyz="0 0 1"/>
        
    </joint>


    <!-- body_face_front_5 -->
    <link name="body_face_front_5">
        <inertial>
            <origin xyz="0 0 0" rpy="0 0 0"/>
            <mass value="0"/>
            <inertia ixx=".1" ixy=".1" ixz=".1" iyy=".1" iyz=".1" izz=".1"/>
        </inertial>
        <visual>
            <origin xyz="0 0 0" rpy="0 0 0"/>
            <geometry>
                <box size="0.002 0.1111111111111111 0.1111111111111111"/>
            </geometry>
        </visual>
        <collision>
            <origin xyz="0 0 0" rpy="0 0 0"/>
            <geometry>
                <box size="0.002 0.1111111111111111 0.1111111111111111"/>
            </geometry>
        </collision>
    </link>
    <!-- Joint: body, body_face_front_5 -->
    <joint name="body_body_face_front_5_joint" type="fixed">
        <parent link="body"/>
        <child link="body_face_front_5"/>
        <origin xyz="0.501 0.11111111111111116 0.11111111111111116"
                rpy="0 0 0"/>
        <axis xyz="0 0 1"/>
        
    </joint>


    <!-- body_face_front_6 -->
    <link name="body_face_front_6">
        <inertial>
            <origin xyz="0 0 0" rpy="0 0 0"/>
            <mass value="0"/>
            <inertia ixx=".1" ixy=".1" ixz=".1" iyy=".1" iyz=".1" izz=".1"/>
        </inertial>
        <visual>
            <origin xyz="0 0 0" rpy="0 0 0"/>
            <geometry>
                <box size="0.002 0.1111111111111111 0.1111111111111111"/>
            </geometry>
        </visual>
        <collision>
            <origin xyz="0 0 0" rpy="0 0 0"/>
            <geometry>
                <box size="0.002 0.1111111111111111 0.1111111111111111"/>
            </geometry>
        </collision>
    </link>
    <!-- Joint: body, body_face_front_6 -->
    <joint name="body_body_face_front_6_joint" type="fixed">
        <parent link="body"/>
        <child link="body_face_front_6"/>
        <origin xyz="0.501 0.11111111111111116 -0.2222222222222222"
                rpy="0 0 0"/>
        <axis xyz="0 0 1"/>
        
    </joint>


    <!-- body_face_front_7 -->
    <link name="body_face_front_7">
        <inertial>
            <origin xyz="0 0 0" rpy="0 0 0"/>
            <mass value="0"/>
            <inertia ixx=".1" ixy=".1" ixz=".1" iyy=".1" iyz=".1" izz=".1"/>
        </inertial>
        <visual>
            <origin xyz="0 0 0" rpy="0 0 0"/>
            <geometry>
                <box size="0.002 0.1111111111111111 0.1111111111111111"/>
            </geometry>
        </visual>
        <collision>
            <origin xyz="0 0 0" rpy="0 0 0"/>
            <geometry>
                <box size="0.002 0.1111111111111111 0.1111111111111111"/>
            </geometry>
        </collision>
    </link>
    <!-- Joint: body, body_face_front_7 -->
    <joint name="body_body_face_front_7_joint" type="fixed">
        <parent link="body"/>
        <child link="body_face_front_7"/>
        <origin xyz="0.501 0.2222222222222222 0.2222222222222222"
                rpy="0 0 0"/>
        <axis xyz="0 0 1"/>
        
    </joint>


    <!-- body_face_front_8 -->
    <link name="body_face_front_8">
        <inertial>
            <origin xyz="0 0 0" rpy="0 0 0"/>
            <mass value="0"/>
            <inertia ixx=".1" ixy=".1" ixz=".1" iyy=".1" iyz=".1" izz=".1"/>
        </inertial>
        <visual>
            <origin xyz="0 0 0" rpy="0 0 0"/>
            <geometry>
                <box size="0.002 0.1111111111111111 0.1111111111111111"/>
            </geometry>
        </visual>
        <collision>
            <origin xyz="0 0 0" rpy="0 0 0"/>
            <geometry>
                <box size="0.002 0.1111111111111111 0.1111111111111111"/>
            </geometry>
        </collision>
    </link>
    <!-- Joint: body, body_face_front_8 -->
    <joint name="body_body_face_front_8_joint" type="fixed">
        <parent link="body"/>
        <child link="body_face_front_8"/>
        <origin xyz="0.501 0.33333333333333337 0.11111111111111116"
                rpy="0 0 0"/>
        <axis xyz="0 0 1"/>
        
    </joint>


    <!-- body_face_top_0 -->
    <link name="body_face_top_0">
        <inertial>
            <origin xyz="0 0 0" rpy="0 0 0"/>
            <mass value="0"/>
            <inertia ixx=".1" ixy=".1" ixz=".1" iyy=".1" iyz=".1" izz=".1"/>
        </inertial>
        <visual>
            <origin xyz="0 0 0" rpy="0 0 0"/>
            <geometry>
                <box size="0.1111111111111111 0.1111111111111111 0.002"/>
            </geometry>
        </visual>
        <collision>
            <origin xyz="0 0 0" rpy="0 0 0"/>
            <geometry>
                <box size="0.1111111111111111 0.1111111111111111 0.002"/>
            </geometry>
        </collision>
    </link>
    <!-- Joint: body, body_face_top_0 -->
    <joint name="body_body_face_top_0_joint" type="fixed">
        <parent link="body"/>
        <child link="body_face_top_0"/>
        <origin xyz="0.11111111111111116 -0.2222222222222222 0.501"
                rpy="0 0 0"/>
        <axis xyz="0 0 1"/>
        
    </joint>


    <!-- body_face_top_1 -->
    <link name="body_face_top_1">
        <inertial>
            <origin xyz="0 0 0" rpy="0 0 0"/>
            <mass value="0"/>
            <inertia ixx=".1" ixy=".1" ixz=".1" iyy=".1" iyz=".1" izz=".1"/>
        </inertial>
        <visual>
            <origin xyz="0 0 0" rpy="0 0 0"/>
            <geometry>
                <box size="0.1111111111111111 0.1111111111111111 0.002"/>
            </geometry>
        </visual>
        <collision>
            <origin xyz="0 0 0" rpy="0 0 0"/>
            <geometry>
                <box size="0.1111111111111111 0.1111111111111111 0.002"/>
            </geometry>
        </collision>
    </link>
    <!-- Joint: body, body_face_top_1 -->
    <joint name="body_body_face_top_1_joint" type="fixed">
        <parent link="body"/>
        <child link="body_face_top_1"/>
        <origin xyz="0.11111111111111116 -0.1111111111111111 0.501"
                rpy="0 0 0"/>
        <axis xyz="0 0 1"/>
        
    </joint>


    <!-- body_face_top_2 -->
    <link name="body_face_top_2">
        <inertial>
            <origin xyz="0 0 0" rpy="0 0 0"/>
            <mass value="0"/>
            <inertia ixx=".1" ixy=".1" ixz=".1" iyy=".1" iyz=".1" izz=".1"/>
        </inertial>
        <visual>
            <origin xyz="0 0 0" rpy="0 0 0"/>
            <geometry>
                <box size="0.1111111111111111 0.1111111111111111 0.002"/>
            </geometry>
        </visual>
        <collision>
            <origin xyz="0 0 0" rpy="0 0 0"/>
            <geometry>
                <box size="0.1111111111111111 0.1111111111111111 0.002"/>
            </geometry>
        </collision>
    </link>
    <!-- Joint: body, body_face_top_2 -->
    <joint name="body_body_face_top_2_joint" type="fixed">
        <parent link="body"/>
        <child link="body_face_top_2"/>
        <origin xyz="0.2222222222222222 -0.1111111111111111 0.501"
                rpy="0 0 0"/>
        <axis xyz="0 0 1"/>
        
    </joint>


    <!-- body_face_top_3 -->
    <link name="body_face_top_3">
        <inertial>
            <origin xyz="0 0 0" rpy="0 0 0"/>
            <mass value="0"/>
            <inertia ixx=".1" ixy=".1" ixz=".1" iyy=".1" iyz=".1" izz=".1"/>
        </inertial>
        <visual>
            <origin xyz="0 0 0" rpy="0 0 0"/>
            <geometry>
                <box size="0.1111111111111111 0.1111111111111111 0.002"/>
            </geometry>
        </visual>
        <collision>
            <origin xyz="0 0 0" rpy="0 0 0"/>
            <geometry>
                <box size="0.1111111111111111 0.1111111111111111 0.002"/>
            </geometry>
        </collision>
    </link>
    <!-- Joint: body, body_face_top_3 -->
    <joint name="body_body_face_top_3_joint" type="fixed">
        <parent link="body"/>
        <child link="body_face_top_3"/>
        <origin xyz="-0.33333333333333337 0.0 0.501"
                rpy="0 0 0"/>
        <axis xyz="0 0 1"/>
        
    </joint>


    <!-- body_face_top_4 -->
    <link name="body_face_top_4">
        <inertial>
            <origin xyz="0 0 0" rpy="0 0 0"/>
            <mass value="0"/>
            <inertia ixx=".1" ixy=".1" ixz=".1" iyy=".1" iyz=".1" izz=".1"/>
        </inertial>
        <visual>
            <origin xyz="0 0 0" rpy="0 0 0"/>
            <geometry>
                <box size="0.1111111111111111 0.1111111111111111 0.002"/>
            </geometry>
        </visual>
        <collision>
            <origin xyz="0 0 0" rpy="0 0 0"/>
            <geometry>
                <box size="0.1111111111111111 0.1111111111111111 0.002"/>
            </geometry>
        </collision>
    </link>
    <!-- Joint: body, body_face_top_4 -->
    <joint name="body_body_face_top_4_joint" type="fixed">
        <parent link="body"/>
        <child link="body_face_top_4"/>
        <origin xyz="-0.2222222222222222 0.0 0.501"
                rpy="0 0 0"/>
        <axis xyz="0 0 1"/>
        
    </joint>


    <!-- body_face_top_5 -->
    <link name="body_face_top_5">
        <inertial>
            <origin xyz="0 0 0" rpy="0 0 0"/>
            <mass value="0"/>
            <inertia ixx=".1" ixy=".1" ixz=".1" iyy=".1" iyz=".1" izz=".1"/>
        </inertial>
        <visual>
            <origin xyz="0 0 0" rpy="0 0 0"/>
            <geometry>
                <box size="0.1111111111111111 0.1111111111111111 0.002"/>
            </geometry>
        </visual>
        <collision>
            <origin xyz="0 0 0" rpy="0 0 0"/>
            <geometry>
                <box size="0.1111111111111111 0.1111111111111111 0.002"/>
            </geometry>
        </collision>
    </link>
    <!-- Joint: body, body_face_top_5 -->
    <joint name="body_body_face_top_5_joint" type="fixed">
        <parent link="body"/>
        <child link="body_face_top_5"/>
        <origin xyz="-0.1111111111111111 0.0 0.501"
                rpy="0 0 0"/>
        <axis xyz="0 0 1"/>
        
    </joint>


    <!-- body_face_top_6 -->
    <link name="body_face_top_6">
        <inertial>
            <origin xyz="0 0 0" rpy="0 0 0"/>
            <mass value="0"/>
            <inertia ixx=".1" ixy=".1" ixz=".1" iyy=".1" iyz=".1" izz=".1"/>
        </inertial>
        <visual>
            <origin xyz="0 0 0" rpy="0 0 0"/>
            <geometry>
                <box size="0.1111111111111111 0.1111111111111111 0.002"/>
            </geometry>
        </visual>
        <collision>
            <origin xyz="0 0 0" rpy="0 0 0"/>
            <geometry>
                <box size="0.1111111111111111 0.1111111111111111 0.002"/>
            </geometry>
        </collision>
    </link>
    <!-- Joint: body, body_face_top_6 -->
    <joint name="body_body_face_top_6_joint" type="fixed">
        <parent link="body"/>
        <child link="body_face_top_6"/>
        <origin xyz="0.0 0.0 0.501"
                rpy="0 0 0"/>
        <axis xyz="0 0 1"/>
        
    </joint>


    <!-- body_face_top_7 -->
    <link name="body_face_top_7">
        <inertial>
            <origin xyz="0 0 0" rpy="0 0 0"/>
            <mass value="0"/>
            <inertia ixx=".1" ixy=".1" ixz=".1" iyy=".1" iyz=".1" izz=".1"/>
        </inertial>
        <visual>
            <origin xyz="0 0 0" rpy="0 0 0"/>
            <geometry>
                <box size="0.1111111111111111 0.1111111111111111 0.002"/>
            </geometry>
        </visual>
        <collision>
            <origin xyz="0 0 0" rpy="0 0 0"/>
            <geometry>
                <box size="0.1111111111111111 0.1111111111111111 0.002"/>
            </geometry>
        </collision>
    </link>
    <!-- Joint: body, body_face_top_7 -->
    <joint name="body_body_face_top_7_joint" type="fixed">
        <parent link="body"/>
        <child link="body_face_top_7"/>
        <origin xyz="0.11111111111111116 0.0 0.501"
                rpy="0 0 0"/>
        <axis xyz="0 0 1"/>
        
    </joint>


    <!-- body_face_top_8 -->
    <link name="body_face_top_8">
        <inertial>
            <origin xyz="0 0 0" rpy="0 0 0"/>
            <mass value="0"/>
            <inertia ixx=".1" ixy=".1" ixz=".1" iyy=".1" iyz=".1" izz=".1"/>
        </inertial>
        <visual>
            <origin xyz="0 0 0" rpy="0 0 0"/>
            <geometry>
                <box size="0.1111111111111111 0.1111111111111111 0.002"/>
            </geometry>
        </visual>
        <collision>
            <origin xyz="0 0 0" rpy="0 0 0"/>
            <geometry>
                <box size="0.1111111111111111 0.1111111111111111 0.002"/>
            </geometry>
        </collision>
    </link>
    <!-- Joint: body, body_face_top_8 -->
    <joint name="body_body_face_top_8_joint" type="fixed">
        <parent link="body"/>
        <child link="body_face_top_8"/>
        <origin xyz="0.2222222222222222 0.0 0.501"
                rpy="0 0 0"/>
        <axis xyz="0 0 1"/>
        
    </joint>


    <!-- body_face_top_9 -->
    <link name="body_face_top_9">
        <inertial>
            <origin xyz="0 0 0" rpy="0 0 0"/>
            <mass value="0"/>
            <inertia ixx=".1" ixy=".1" ixz=".1" iyy=".1" iyz=".1" izz=".1"/>
        </inertial>
        <visual>
            <origin xyz="0 0 0" rpy="0 0 0"/>
            <geometry>
                <box size="0.1111111111111111 0.1111111111111111 0.002"/>
            </geometry>
        </visual>
        <collision>
            <origin xyz="0 0 0" rpy="0 0 0"/>
            <geometry>
                <box size="0.1111111111111111 0.1111111111111111 0.002"/>
            </geometry>
        </collision>
    </link>
    <!-- Joint: body, body_face_top_9 -->
    <joint name="body_body_face_top_9_joint" type="fixed">
        <parent link="body"/>
        <child link="body_face_top_9"/>
        <origin xyz="0.33333333333333337 0.0 0.501"
                rpy="0 0 0"/>
        <axis xyz="0 0 1"/>
        
    </joint>


    <!-- body_face_top_10 -->
    <link name="body_face_top_10">
        <inertial>
            <origin xyz="0 0 0" rpy="0 0 0"/>
            <mass value="0"/>
            <inertia ixx=".1" ixy=".1" ixz=".1" iyy=".1" iyz=".1" izz=".1"/>
        </inertial>
        <visual>
            <origin xyz="0 0 0" rpy="0 0 0"/>
            <geometry>
                <box size="0.1111111111111111 0.1111111111111111 0.002"/>
            </geometry>
        </visual>
        <collision>
            <origin xyz="0 0 0" rpy="0 0 0"/>
            <geometry>
                <box size="0.1111111111111111 0.1111111111111111 0.002"/>
            </geometry>
        </collision>
    </link>
    <!-- Joint: body, body_face_top_10 -->
    <joint name="body_body_face_top_10_joint" type="fixed">
        <parent link="body"/>
        <child link="body_face_top_10"/>
        <origin xyz="0.11111111111111116 0.11111111111111116 0.501"
                rpy="0 0 0"/>
        <axis xyz="0 0 1"/>
        
    </joint>


    <!-- body_face_top_11 -->
    <link name="body_face_top_11">
        <inertial>
            <origin xyz="0 0 0" rpy="0 0 0"/>
            <mass value="0"/>
            <inertia ixx=".1" ixy=".1" ixz=".1" iyy=".1" iyz=".1" izz=".1"/>
        </inertial>
        <visual>
            <origin xyz="0 0 0" rpy="0 0 0"/>
            <geometry>
                <box size="0.1111111111111111 0.1111111111111111 0.002"/>
            </geometry>
        </visual>
        <collision>
            <origin xyz="0 0 0" rpy="0 0 0"/>
            <geometry>
                <box size="0.1111111111111111 0.1111111111111111 0.002"/>
            </geometry>
        </collision>
    </link>
    <!-- Joint: body, body_face_top_11 -->
    <joint name="body_body_face_top_11_joint" type="fixed">
        <parent link="body"/>
        <child link="body_face_top_11"/>
        <origin xyz="0.2222222222222222 0.11111111111111116 0.501"
                rpy="0 0 0"/>
        <axis xyz="0 0 1"/>
        
    </joint>


    <!-- body_face_top_12 -->
    <link name="body_face_top_12">
        <inertial>
            <origin xyz="0 0 0" rpy="0 0 0"/>
            <mass value="0"/>
            <inertia ixx=".1" ixy=".1" ixz=".1" iyy=".1" iyz=".1" izz=".1"/>
        </inertial>
        <visual>
            <origin xyz="0 0 0" rpy="0 0 0"/>
            <geometry>
                <box size="0.1111111111111111 0.1111111111111111 0.002"/>
            </geometry>
        </visual>
        <collision>
            <origin xyz="0 0 0" rpy="0 0 0"/>
            <geometry>
                <box size="0.1111111111111111 0.1111111111111111 0.002"/>
            </geometry>
        </collision>
    </link>
    <!-- Joint: body, body_face_top_12 -->
    <joint name="body_body_face_top_12_joint" type="fixed">
        <parent link="body"/>
        <child link="body_face_top_12"/>
        <origin xyz="0.11111111111111116 0.2222222222222222 0.501"
                rpy="0 0 0"/>
        <axis xyz="0 0 1"/>
        
    </joint>


</robot>
